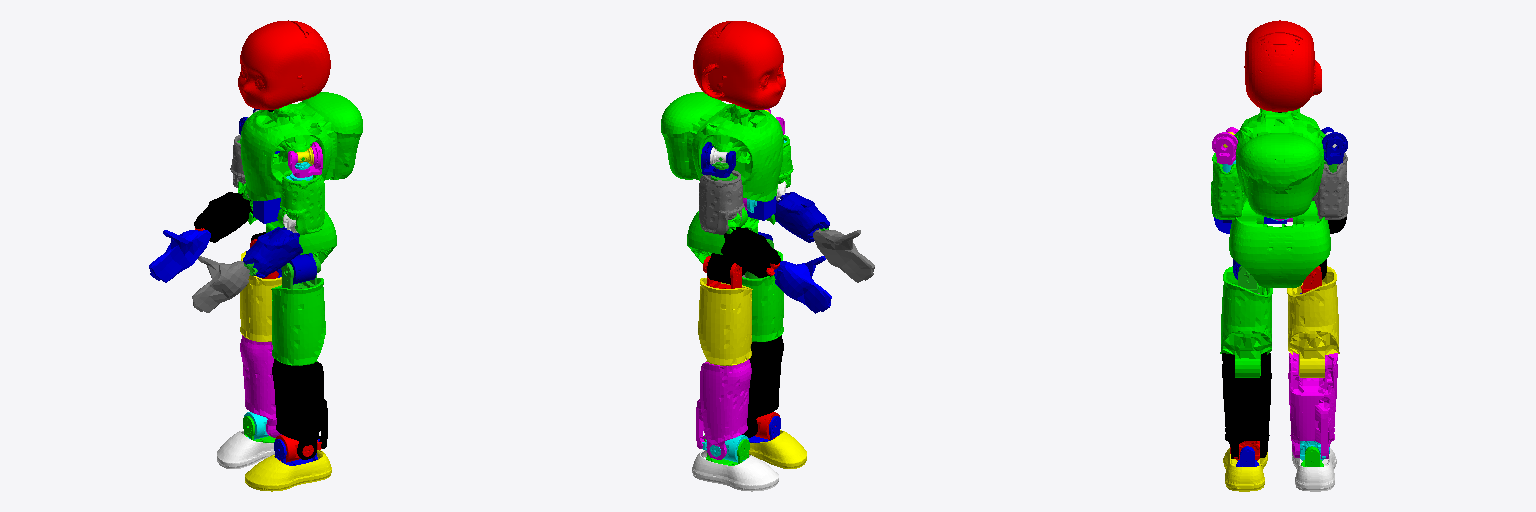
--- Facts derived from the render (not from the file) ---
Views: 3 orthographic renders of the robot side by side, from view 1: azimuth 30°, elevation 25°; view 2: azimuth 150°, elevation 25°; view 3: azimuth 270°, elevation 25°.
Model iCub with 191 links and 190 joints (33 revolute, 157 fixed), rooted at base_link, posed joints at zero except 2 at the middle of their limits (r_elbow = 1.06, l_elbow = 1.06).
Links seen in each view (by area): view 1: chest, head, l_lower_leg, l_upper_leg, r_lower_leg, l_upper_arm, l_foot, r_upper_leg, l_hand, r_hand, l_forearm, r_forearm (+5 smaller); view 2: chest, head, r_lower_leg, r_upper_leg, l_lower_leg, r_upper_arm, r_foot, l_upper_leg, r_hand, r_forearm, l_hand, l_forearm (+4 smaller); view 3: chest, root_link, head, r_upper_leg, l_upper_leg, l_lower_leg, r_lower_leg, r_upper_arm, l_upper_arm, r_foot, l_foot, l_shoulder_2 (+1 smaller).
Link boxes in pixels (x1,y1,x2,y2): chest: (240, 92, 362, 200); head: (238, 20, 330, 109); l_lower_leg: (272, 359, 327, 459); l_upper_leg: (271, 278, 325, 365); r_lower_leg: (240, 335, 281, 437); l_upper_arm: (280, 170, 324, 234); l_foot: (245, 450, 331, 491); r_upper_leg: (240, 251, 281, 341); l_hand: (192, 256, 249, 312); r_hand: (149, 230, 210, 282); l_forearm: (243, 227, 302, 277); r_forearm: (194, 192, 253, 242); chest: (661, 92, 783, 201); head: (693, 21, 785, 109); r_lower_leg: (696, 359, 751, 459); r_upper_leg: (698, 278, 752, 365); l_lower_leg: (742, 335, 783, 437); r_upper_arm: (699, 170, 743, 234); r_foot: (692, 450, 778, 491); l_upper_leg: (742, 250, 783, 341); r_hand: (774, 256, 831, 313); r_forearm: (721, 227, 780, 277); l_hand: (813, 229, 874, 282); l_forearm: (769, 192, 829, 242); chest: (1234, 108, 1325, 218); root_link: (1229, 201, 1330, 287); head: (1244, 20, 1321, 111); r_upper_leg: (1287, 266, 1339, 377); l_upper_leg: (1220, 266, 1272, 377); l_lower_leg: (1222, 352, 1271, 458); r_lower_leg: (1288, 352, 1337, 458); r_upper_arm: (1312, 153, 1348, 219); l_upper_arm: (1211, 153, 1247, 219); r_foot: (1292, 448, 1336, 491); l_foot: (1223, 448, 1267, 491); l_shoulder_2: (1212, 127, 1238, 164).
Bounding box of the posed robot: 0.4797 × 0.2988 × 1.08 m (x, y, z).
38 mesh visuals loaded from 39 distinct referenced files (38 binary STL); not drawn: 1 (reference not matched to a file when rendering).

robot.urdf — iCub:
<robot name="iCub">
  <link name="root_link">
    <inertial>
      <origin xyz="0.0248821 0.000103947 -0.0440806" rpy="1.57079632679 0 -1.57079632679"/>
      <mass value="5.09143"/>
      <inertia ixx="0.0139679" ixy="-5.93488e-06" ixz="-1.55458e-05" iyy="0.0202112" iyz="-0.00170968" izz="0.0249124"/>
    </inertial>
    <visual>
      <origin xyz="-0.0364 0 0.032" rpy="1.57079632679 0 -1.57079632679"/>
      <geometry>
        <mesh filename="package://iCub/meshes/simmechanics/sim_sea_2-5_root_link_prt-binary.stl" scale="0.001 0.001 0.001"/>
      </geometry>
      <material name="green">
        <color rgba="0 1 0 1"/>
      </material>
    </visual>
    <collision>
      <origin xyz="-0.0364 0 0.032" rpy="1.57079632679 0 -1.57079632679"/>
      <geometry>
        <mesh filename="package://iCub/meshes/simmechanics/sim_sea_2-5_root_link_prt-binary.stl" scale="0.001 0.001 0.001"/>
      </geometry>
    </collision>
  </link>
  <link name="r_hip_1">
    <inertial>
      <origin xyz="-0.0005145 -0.0380753 -7.1e-05" rpy="1.57079632679 0 1.57079632679"/>
      <mass value="0.919978"/>
      <inertia ixx="0.000404268" ixy="-1.26852e-06" ixz="1.11055e-06" iyy="0.000574741" iyz="-7.69474e-07" izz="0.000580025"/>
    </inertial>
    <visual>
      <origin xyz="0.0428515000001 0.026 0.151913" rpy="1.57079632679 0 1.57079632679"/>
      <geometry>
        <mesh filename="package://iCub/meshes/simmechanics/sim_sea_2-5_r_hip_1_prt-binary.stl" scale="0.001 0.001 0.001"/>
      </geometry>
      <material name="black">
        <color rgba="0 0 0 1"/>
      </material>
    </visual>
    <collision>
      <origin xyz="0.0428515000001 0.026 0.151913" rpy="1.57079632679 0 1.57079632679"/>
      <geometry>
        <mesh filename="package://iCub/meshes/simmechanics/sim_sea_2-5_r_hip_1_prt-binary.stl" scale="0.001 0.001 0.001"/>
      </geometry>
    </collision>
  </link>
  <joint name="r_hip_pitch" type="revolute">
    <origin xyz="0.0064515 0.026 -0.119913" rpy="0 0 -3.14159265359"/>
    <axis xyz="-2.22044604925e-16 -1.0 0.0"/>
    <parent link="root_link"/>
    <child link="r_hip_1"/>
    <limit effort="55.5" lower="-0.785398163397" upper="2.33874119767" velocity="5.1"/>
    <dynamics damping="1.0" friction="0.0"/>
  </joint>
  <link name="r_hip_2">
    <inertial>
      <origin xyz="-0.0013754 3.49999999998e-06 -0.044282" rpy="1.57079632679 0 1.57079632679"/>
      <mass value="0.418361"/>
      <inertia ixx="0.000487866" ixy="-2.70231e-07" ixz="1.85338e-07" iyy="0.000286099" iyz="1.22793e-05" izz="0.000315174"/>
    </inertial>
    <visual>
      <origin xyz="0.0428514998094 0.0701 0.151913" rpy="1.57079632679 0 1.57079632679"/>
      <geometry>
        <mesh filename="package://iCub/meshes/simmechanics/sim_sea_2-5_r_hip_2_prt-binary.stl" scale="0.001 0.001 0.001"/>
      </geometry>
      <material name="red">
        <color rgba="1 0 0 1"/>
      </material>
    </visual>
    <collision>
      <origin xyz="0.0428514998094 0.0701 0.151913" rpy="1.57079632679 0 1.57079632679"/>
      <geometry>
        <mesh filename="package://iCub/meshes/simmechanics/sim_sea_2-5_r_hip_2_prt-binary.stl" scale="0.001 0.001 0.001"/>
      </geometry>
    </collision>
  </link>
  <joint name="r_hip_roll" type="revolute">
    <origin xyz="0 -0.0441 0" rpy="0 0 0"/>
    <axis xyz="-1.0 0.0 -2.22044604925e-16"/>
    <parent link="r_hip_1"/>
    <child link="r_hip_2"/>
    <limit effort="37.0" lower="-0.349065850399" upper="2.09439510239" velocity="7.64"/>
    <dynamics damping="1.0" friction="0.0"/>
  </joint>
  <link name="r_hip_3">
    <inertial>
      <origin xyz="-0.000123 -0.0002823 0.008718" rpy="-1.57079632679 0 -1.57079632679"/>
      <mass value="0.126212"/>
      <inertia ixx="0.01" ixy="2.67901e-07" ixz="-4.41463e-09" iyy="0.01" iyz="3.32338e-08" izz="0.01"/>
    </inertial>
    <visual>
      <origin xyz="0.0437089998094 -0.0701 -0.226213" rpy="-1.57079632679 0 -1.57079632679"/>
      <geometry>
        <mesh filename="package://iCub/meshes/simmechanics/sim_sea_2-5_r_upper_thigh_prt-binary.stl" scale="0.001 0.001 0.001"/>
      </geometry>
      <material name="blue">
        <color rgba="0 0 1 1"/>
      </material>
    </visual>
    <collision>
      <origin xyz="0.0437089998094 -0.0701 -0.226213" rpy="-1.57079632679 0 -1.57079632679"/>
      <geometry>
        <mesh filename="package://iCub/meshes/simmechanics/sim_sea_2-5_r_upper_thigh_prt-binary.stl" scale="0.001 0.001 0.001"/>
      </geometry>
    </collision>
  </link>
  <joint name="r_leg_ft_sensor" type="fixed">
    <origin xyz="-0.0008575 0 -0.0743" rpy="3.14159265359 0 0"/>
    <parent link="r_hip_2"/>
    <child link="r_hip_3"/>
    <dynamics damping="0.1"/>
  </joint>
  <link name="r_upper_leg">
    <inertial>
      <origin xyz="0.0033999 -2.91e-05 -0.078954" rpy="1.57079632679 0 1.57079632679"/>
      <mass value="1.8035"/>
      <inertia ixx="0.00647751422999" ixy="0.000129579429588" ixz="5.48205094739e-06" iyy="0.0014593786411" iyz="-0.000136613086875" izz="0.00646720823813"/>
    </inertial>
    <visual>
      <origin xyz="0.0437089998094 0.0701 0.240813" rpy="1.57079632679 0 1.57079632679"/>
      <geometry>
        <mesh filename="package://iCub/meshes/simmechanics/sim_sea_2-5_r_thigh_prt-binary.stl" scale="0.001 0.001 0.001"/>
      </geometry>
      <material name="yellow">
        <color rgba="1 1 0 1"/>
      </material>
    </visual>
    <collision>
      <origin xyz="0.0437089998094 0.0701 0.240813" rpy="1.57079632679 0 1.57079632679"/>
      <geometry>
        <mesh filename="package://iCub/meshes/simmechanics/sim_sea_2-5_r_thigh_prt-binary.stl" scale="0.001 0.001 0.001"/>
      </geometry>
    </collision>
  </link>
  <joint name="r_hip_yaw" type="revolute">
    <origin xyz="0 0 0.0144" rpy="-3.14159265359 0 0"/>
    <axis xyz="0.0 -2.22044604925e-16 -1.0"/>
    <parent link="r_hip_3"/>
    <child link="r_upper_leg"/>
    <limit effort="37.0" lower="-1.3962634016" upper="1.3962634016" velocity="7.64"/>
    <dynamics damping="1.0" friction="0.0"/>
  </joint>
  <link name="r_upper_leg_back_contact"/>
  <joint name="r_upper_leg_back_contact_fixed_joint" type="fixed">
    <origin xyz="-0.0511999 0 0.0146" rpy="0 1.57079632679 0"/>
    <parent link="r_upper_leg"/>
    <child link="r_upper_leg_back_contact"/>
    <dynamics damping="0.1"/>
  </joint>
  <link name="r_upper_leg_dh_frame"/>
  <joint name="r_upper_leg_dh_frame_fixed_joint" type="fixed">
    <origin xyz="0 0 -0.145825" rpy="1.57079632679 0 0"/>
    <parent link="r_upper_leg"/>
    <child link="r_upper_leg_dh_frame"/>
    <dynamics damping="0.1"/>
  </joint>
  <link name="r_lower_leg">
    <inertial>
      <origin xyz="0.0012363 -0.0035131 -0.088794" rpy="1.57079632679 0 1.57079632679"/>
      <mass value="1.472"/>
      <inertia ixx="0.00423993167478" ixy="0.000228814548854" ixz="-5.55646459453e-05" iyy="0.00152095043447" iyz="-0.000264132979243" izz="0.00457358584206"/>
    </inertial>
    <visual>
      <origin xyz="0.0437089998094 0.0701000001907 0.386638" rpy="1.57079632679 0 1.57079632679"/>
      <geometry>
        <mesh filename="package://iCub/meshes/simmechanics/sim_sea_2-5_r_shank_prt-binary.stl" scale="0.001 0.001 0.001"/>
      </geometry>
      <material name="pink">
        <color rgba="1 0 1 1"/>
      </material>
    </visual>
    <collision>
      <origin xyz="0.0437089998094 0.0701000001907 0.386638" rpy="1.57079632679 0 1.57079632679"/>
      <geometry>
        <mesh filename="package://iCub/meshes/simmechanics/sim_sea_2-5_r_shank_prt-binary.stl" scale="0.001 0.001 0.001"/>
      </geometry>
    </collision>
  </link>
  <joint name="r_knee" type="revolute">
    <origin xyz="0 0 -0.145825" rpy="0 0 0"/>
    <axis xyz="-2.22044604925e-16 -1.0 0.0"/>
    <parent link="r_upper_leg"/>
    <child link="r_lower_leg"/>
    <limit effort="37.0" lower="-2.16420827247" upper="0.0698131700798" velocity="7.64"/>
    <dynamics damping="1.0" friction="0.0"/>
  </joint>
  <link name="r_lower_leg_skin_0"/>
  <joint name="r_lower_leg_skin_0_fixed_joint" type="fixed">
    <origin xyz="0.0544117 -0.031214 -0.002634" rpy="2.09173809157e-06 -1.41530676247 2.48648458622"/>
    <parent link="r_lower_leg"/>
    <child link="r_lower_leg_skin_0"/>
    <dynamics damping="0.1"/>
  </joint>
  <link name="r_lower_leg_skin_3"/>
  <joint name="r_lower_leg_skin_3_fixed_joint" type="fixed">
    <origin xyz="0.05157878 0.0304205 -0.002843" rpy="0 -1.42951054083 -2.30391484186"/>
    <parent link="r_lower_leg"/>
    <child link="r_lower_leg_skin_3"/>
    <dynamics damping="0.1"/>
  </joint>
  <link name="r_lower_leg_skin_4"/>
  <joint name="r_lower_leg_skin_4_fixed_joint" type="fixed">
    <origin xyz="0.0583103 0.0167836 0.007272" rpy="-2.98636361519e-07 -1.25636748876 -2.75892380087"/>
    <parent link="r_lower_leg"/>
    <child link="r_lower_leg_skin_4"/>
    <dynamics damping="0.1"/>
  </joint>
  <link name="r_lower_leg_skin_5"/>
  <joint name="r_lower_leg_skin_5_fixed_joint" type="fixed">
    <origin xyz="0.0636503 0.0003094 -0.001972" rpy="0 -1.38652215068 -3.14147169807"/>
    <parent link="r_lower_leg"/>
    <child link="r_lower_leg_skin_5"/>
    <dynamics damping="0.1"/>
  </joint>
  <link name="r_lower_leg_skin_6"/>
  <joint name="r_lower_leg_skin_6_fixed_joint" type="fixed">
    <origin xyz="0.05208552 0.0304434 -0.022149" rpy="-3.14158927953 -1.46785123411 0.837492889077"/>
    <parent link="r_lower_leg"/>
    <child link="r_lower_leg_skin_6"/>
    <dynamics damping="0.1"/>
  </joint>
  <link name="r_lower_leg_skin_9"/>
  <joint name="r_lower_leg_skin_9_fixed_joint" type="fixed">
    <origin xyz="0.0598214 0.0167973 -0.030962" rpy="-3.14159202356 -1.34224755325 0.379294477718"/>
    <parent link="r_lower_leg"/>
    <child link="r_lower_leg_skin_9"/>
    <dynamics damping="0.1"/>
  </joint>
  <link name="r_lower_leg_skin_10"/>
  <joint name="r_lower_leg_skin_10_fixed_joint" type="fixed">
    <origin xyz="0.0644607 0.0003424 -0.021205" rpy="3.14159265355 -1.47095803541 0.000430021675261"/>
    <parent link="r_lower_leg"/>
    <child link="r_lower_leg_skin_10"/>
    <dynamics damping="0.1"/>
  </joint>
  <link name="r_lower_leg_skin_11"/>
  <joint name="r_lower_leg_skin_11_fixed_joint" type="fixed">
    <origin xyz="0.0607108 -0.0160916 -0.030885" rpy="-3.14159218252 -1.3281180406 -0.27213836788"/>
    <parent link="r_lower_leg"/>
    <child link="r_lower_leg_skin_11"/>
    <dynamics damping="0.1"/>
  </joint>
  <link name="r_lower_leg_skin_14"/>
  <joint name="r_lower_leg_skin_14_fixed_joint" type="fixed">
    <origin xyz="0.0550477 -0.031176 -0.0219" rpy="-3.14159181885 -1.46502735635 -0.654033407167"/>
    <parent link="r_lower_leg"/>
    <child link="r_lower_leg_skin_14"/>
    <dynamics damping="0.1"/>
  </joint>
  <link name="r_lower_leg_skin_15"/>
  <joint name="r_lower_leg_skin_15_fixed_joint" type="fixed">
    <origin xyz="0.0591708 -0.0161788 0.007243" rpy="4.27484256729e-07 -1.25203633076 2.86798859471"/>
    <parent link="r_lower_leg"/>
    <child link="r_lower_leg_skin_15"/>
    <dynamics damping="0.1"/>
  </joint>
  <link name="r_lower_leg_skin_16"/>
  <joint name="r_lower_leg_skin_16_fixed_joint" type="fixed">
    <origin xyz="0.0272875 -0.050287 -0.004549" rpy="1.33075915123e-05 -1.53260853515 1.96280242835"/>
    <parent link="r_lower_leg"/>
    <child link="r_lower_leg_skin_16"/>
    <dynamics damping="0.1"/>
  </joint>
  <link name="r_lower_leg_skin_17"/>
  <joint name="r_lower_leg_skin_17_fixed_joint" type="fixed">
    <origin xyz="0.027875 -0.050312 -0.023882" rpy="-3.1415645262 -1.56366240237 -1.18022508756"/>
    <parent link="r_lower_leg"/>
    <child link="r_lower_leg_skin_17"/>
    <dynamics damping="0.1"/>
  </joint>
  <link name="r_lower_leg_skin_19"/>
  <joint name="r_lower_leg_skin_19_fixed_joint" type="fixed">
    <origin xyz="0.0357534 0.0410628 0.006065" rpy="-8.90877717426e-07 -1.43498696978 -2.15863618017"/>
    <parent link="r_lower_leg"/>
    <child link="r_lower_leg_skin_19"/>
    <dynamics damping="0.1"/>
  </joint>
  <link name="r_lower_leg_skin_20"/>
  <joint name="r_lower_leg_skin_20_fixed_joint" type="fixed">
    <origin xyz="0.0234419 0.0479908 -0.004952" rpy="-3.20556549428e-06 -1.50015513031 -1.86755092413"/>
    <parent link="r_lower_leg"/>
    <child link="r_lower_leg_skin_20"/>
    <dynamics damping="0.1"/>
  </joint>
  <link name="r_lower_leg_skin_21"/>
  <joint name="r_lower_leg_skin_21_fixed_joint" type="fixed">
    <origin xyz="0.0242704 0.0485378 -0.024277" rpy="2.29671149558e-05 -1.55545513881 -1.87411972316"/>
    <parent link="r_lower_leg"/>
    <child link="r_lower_leg_skin_21"/>
    <dynamics damping="0.1"/>
  </joint>
  <link name="r_lower_leg_skin_28"/>
  <joint name="r_lower_leg_skin_28_fixed_joint" type="fixed">
    <origin xyz="0.04087215 -0.04244 -0.032756" rpy="3.14158088865 -1.52252462169 -0.929681029763"/>
    <parent link="r_lower_leg"/>
    <child link="r_lower_leg_skin_28"/>
    <dynamics damping="0.1"/>
  </joint>
  <link name="r_lower_leg_skin_29"/>
  <joint name="r_lower_leg_skin_29_fixed_joint" type="fixed">
    <origin xyz="0.03846637 -0.043516 -0.05242" rpy="3.14158017044 -1.53429841563 -0.915436346631"/>
    <parent link="r_lower_leg"/>
    <child link="r_lower_leg_skin_29"/>
    <dynamics damping="0.1"/>
  </joint>
  <link name="r_lower_leg_skin_31"/>
  <joint name="r_lower_leg_skin_31_fixed_joint" type="fixed">
    <origin xyz="0.03914638 -0.042271 0.006327" rpy="-6.58381747139e-07 -1.4186494462 2.20853032986"/>
    <parent link="r_lower_leg"/>
    <child link="r_lower_leg_skin_31"/>
    <dynamics damping="0.1"/>
  </joint>
  <link name="r_lower_leg_skin_32"/>
  <joint name="r_lower_leg_skin_32_fixed_joint" type="fixed">
    <origin xyz="0.04598301 0.0325847 -0.080733" rpy="-3.14159014988 -1.52238289798 0.645940380887"/>
    <parent link="r_lower_leg"/>
    <child link="r_lower_leg_skin_32"/>
    <dynamics damping="0.1"/>
  </joint>
  <link name="r_lower_leg_skin_35"/>
  <joint name="r_lower_leg_skin_35_fixed_joint" type="fixed">
    <origin xyz="0.04774866 -0.031232 -0.080113" rpy="-3.14158668275 -1.51758467332 -0.541532486468"/>
    <parent link="r_lower_leg"/>
    <child link="r_lower_leg_skin_35"/>
    <dynamics damping="0.1"/>
  </joint>
  <link name="r_lower_leg_skin_36"/>
  <joint name="r_lower_leg_skin_36_fixed_joint" type="fixed">
    <origin xyz="0.05322409 -0.0156018 -0.088362" rpy="-3.14159034144 -1.51587265281 -0.20740733566"/>
    <parent link="r_lower_leg"/>
    <child link="r_lower_leg_skin_36"/>
    <dynamics damping="0.1"/>
  </joint>
  <link name="r_lower_leg_skin_37"/>
  <joint name="r_lower_leg_skin_37_fixed_joint" type="fixed">
    <origin xyz="0.0552572 0.0009644 -0.078318" rpy="-3.14158180452 -1.52318336898 0.00752450583063"/>
    <parent link="r_lower_leg"/>
    <child link="r_lower_leg_skin_37"/>
    <dynamics damping="0.1"/>
  </joint>
  <link name="r_lower_leg_skin_38"/>
  <joint name="r_lower_leg_skin_38_fixed_joint" type="fixed">
    <origin xyz="0.04880467 -0.031263 -0.060757" rpy="3.14158665199 -1.5157299554 -0.54215359959"/>
    <parent link="r_lower_leg"/>
    <child link="r_lower_leg_skin_38"/>
    <dynamics damping="0.1"/>
  </joint>
  <link name="r_lower_leg_skin_41"/>
  <joint name="r_lower_leg_skin_41_fixed_joint" type="fixed">
    <origin xyz="0.0566009 -0.0159129 -0.049854" rpy="-3.14159198825 -1.40681343597 -0.248233089413"/>
    <parent link="r_lower_leg"/>
    <child link="r_lower_leg_skin_41"/>
    <dynamics damping="0.1"/>
  </joint>
  <link name="r_lower_leg_skin_42"/>
  <joint name="r_lower_leg_skin_42_fixed_joint" type="fixed">
    <origin xyz="0.0570106 0.0007962 -0.05908" rpy="3.14158970239 -1.43524750416 0.00687943651504"/>
    <parent link="r_lower_leg"/>
    <child link="r_lower_leg_skin_42"/>
    <dynamics damping="0.1"/>
  </joint>
  <link name="r_lower_leg_skin_43"/>
  <joint name="r_lower_leg_skin_43_fixed_joint" type="fixed">
    <origin xyz="0.04712542 0.0323653 -0.061362" rpy="-3.14159136621 -1.53843038237 0.624217523667"/>
    <parent link="r_lower_leg"/>
    <child link="r_lower_leg_skin_43"/>
    <dynamics damping="0.1"/>
  </joint>
  <link name="r_lower_leg_skin_46"/>
  <joint name="r_lower_leg_skin_46_fixed_joint" type="fixed">
    <origin xyz="0.0558156 0.0172164 -0.05018" rpy="-3.14158987809 -1.42759881603 0.325607710876"/>
    <parent link="r_lower_leg"/>
    <child link="r_lower_leg_skin_46"/>
    <dynamics damping="0.1"/>
  </joint>
  <link name="r_lower_leg_skin_47"/>
  <joint name="r_lower_leg_skin_47_fixed_joint" type="fixed">
    <origin xyz="0.05264163 0.0176389 -0.08886" rpy="3.14158963519 -1.51690559406 0.262640425058"/>
    <parent link="r_lower_leg"/>
    <child link="r_lower_leg_skin_47"/>
    <dynamics damping="0.1"/>
  </joint>
  <link name="r_lower_leg_skin_49"/>
  <joint name="r_lower_leg_skin_49_fixed_joint" type="fixed">
    <origin xyz="0.04113137 0.0324385 -0.138859" rpy="-3.14158934751 -1.48996135695 0.729763592113"/>
    <parent link="r_lower_leg"/>
    <child link="r_lower_leg_skin_49"/>
    <dynamics damping="0.1"/>
  </joint>
  <link name="r_lower_leg_skin_50"/>
  <joint name="r_lower_leg_skin_50_fixed_joint" type="fixed">
    <origin xyz="0.043016947 0.0325273 -0.119469" rpy="3.14159069596 -1.49900732636 0.695784020081"/>
    <parent link="r_lower_leg"/>
    <child link="r_lower_leg_skin_50"/>
    <dynamics damping="0.1"/>
  </joint>
  <link name="r_lower_leg_skin_51"/>
  <joint name="r_lower_leg_skin_51_fixed_joint" type="fixed">
    <origin xyz="0.05141583 0.017759 -0.108206" rpy="-3.14158890179 -1.50628475717 0.272079935713"/>
    <parent link="r_lower_leg"/>
    <child link="r_lower_leg_skin_51"/>
    <dynamics damping="0.1"/>
  </joint>
  <link name="r_lower_leg_skin_52"/>
  <joint name="r_lower_leg_skin_52_fixed_joint" type="fixed">
    <origin xyz="0.05299832 0.0012664 -0.116895" rpy="-3.14159164042 -1.50318674421 0.0108717260994"/>
    <parent link="r_lower_leg"/>
    <child link="r_lower_leg_skin_52"/>
    <dynamics damping="0.1"/>
  </joint>
  <link name="r_lower_leg_skin_53"/>
  <joint name="r_lower_leg_skin_53_fixed_joint" type="fixed">
    <origin xyz="0.05207312 -0.0154339 -0.107654" rpy="3.14159063987 -1.50595307447 -0.211407322892"/>
    <parent link="r_lower_leg"/>
    <child link="r_lower_leg_skin_53"/>
    <dynamics damping="0.1"/>
  </joint>
  <link name="r_lower_leg_skin_54"/>
  <joint name="r_lower_leg_skin_54_fixed_joint" type="fixed">
    <origin xyz="0.04512708 -0.030749 -0.118787" rpy="3.14158825193 -1.49745145571 -0.575115374473"/>
    <parent link="r_lower_leg"/>
    <child link="r_lower_leg_skin_54"/>
    <dynamics damping="0.1"/>
  </joint>
  <link name="r_lower_leg_skin_55"/>
  <joint name="r_lower_leg_skin_55_fixed_joint" type="fixed">
    <origin xyz="0.043502663 -0.030489 -0.138143" rpy="3.14158906486 -1.48995787038 -0.597219943789"/>
    <parent link="r_lower_leg"/>
    <child link="r_lower_leg_skin_55"/>
    <dynamics damping="0.1"/>
  </joint>
  <link name="r_lower_leg_skin_56"/>
  <joint name="r_lower_leg_skin_56_fixed_joint" type="fixed">
    <origin xyz="0.04926839 -0.015121 -0.146218" rpy="-3.14158920404 -1.49124819828 -0.2234844764"/>
    <parent link="r_lower_leg"/>
    <child link="r_lower_leg_skin_56"/>
    <dynamics damping="0.1"/>
  </joint>
  <link name="r_lower_leg_skin_60"/>
  <joint name="r_lower_leg_skin_60_fixed_joint" type="fixed">
    <origin xyz="0.04836967 0.018056 -0.146938" rpy="-3.14159173337 -1.48985968527 0.302951871954"/>
    <parent link="r_lower_leg"/>
    <child link="r_lower_leg_skin_60"/>
    <dynamics damping="0.1"/>
  </joint>
  <link name="r_lower_leg_skin_61"/>
  <joint name="r_lower_leg_skin_61_fixed_joint" type="fixed">
    <origin xyz="0.05161952 0.0014266 -0.136169" rpy="-3.14159100925 -1.49602097086 0.0132014275205"/>
    <parent link="r_lower_leg"/>
    <child link="r_lower_leg_skin_61"/>
    <dynamics damping="0.1"/>
  </joint>
  <link name="r_ankle_1">
    <inertial>
      <origin xyz="0.0151436 -0.0008686 4.2e-05" rpy="1.57079632679 0 1.57079632679"/>
      <mass value="0.6803"/>
      <inertia ixx="0.000404618848932" ixy="7.49819286945e-07" ixz="-3.01349467691e-05" iyy="0.000448633654664" iyz="2.5726697409e-06" izz="0.000308235939139"/>
    </inertial>
    <visual>
      <origin xyz="0.0437089998094 0.0701000001907 0.587138" rpy="1.57079632679 0 1.57079632679"/>
      <geometry>
        <mesh filename="package://iCub/meshes/simmechanics/sim_sea_2-5_r_ankle_prt-binary.stl" scale="0.001 0.001 0.001"/>
      </geometry>
      <material name="cyan">
        <color rgba="0 1 1 1"/>
      </material>
    </visual>
    <collision>
      <origin xyz="0.0437089998094 0.0701000001907 0.587138" rpy="1.57079632679 0 1.57079632679"/>
      <geometry>
        <mesh filename="package://iCub/meshes/simmechanics/sim_sea_2-5_r_ankle_prt-binary.stl" scale="0.001 0.001 0.001"/>
      </geometry>
    </collision>
  </link>
  <joint name="r_ankle_pitch" type="revolute">
    <origin xyz="0 0 -0.2005" rpy="0 0 0"/>
    <axis xyz="2.22044604925e-16 1.0 0.0"/>
    <parent link="r_lower_leg"/>
    <child link="r_ankle_1"/>
    <limit effort="37.0" lower="-0.610865238198" upper="0.610865238198" velocity="7.64"/>
    <dynamics damping="1.0" friction="0.0"/>
  </joint>
  <link name="r_ankle_2">
    <inertial>
      <origin xyz="0.0007673 -8.20000000001e-06 -0.038202" rpy="1.57079632679 0 1.57079632679"/>
      <mass value="0.267485"/>
      <inertia ixx="0.01" ixy="-7.53335e-08" ixz="2.93681e-08" iyy="0.01" iyz="-4.26218e-07" izz="0.01"/>
    </inertial>
    <visual>
      <origin xyz="0.0437089996186 0.0701000001907 0.587138" rpy="1.57079632679 0 1.57079632679"/>
      <geometry>
        <mesh filename="package://iCub/meshes/simmechanics/sim_sea_2-5_r_foot_prt-binary.stl" scale="0.001 0.001 0.001"/>
      </geometry>
      <material name="green">
        <color rgba="0 1 0 1"/>
      </material>
    </visual>
    <collision>
      <origin xyz="0.0437089996186 0.0701000001907 0.587138" rpy="1.57079632679 0 1.57079632679"/>
      <geometry>
        <mesh filename="package://iCub/meshes/simmechanics/sim_sea_2-5_r_foot_prt-binary.stl" scale="0.001 0.001 0.001"/>
      </geometry>
    </collision>
  </link>
  <joint name="r_ankle_roll" type="revolute">
    <origin xyz="0 0 0" rpy="0 0 0"/>
    <axis xyz="-1.0 0.0 -2.22044604925e-16"/>
    <parent link="r_ankle_1"/>
    <child link="r_ankle_2"/>
    <limit effort="37.0" lower="-0.436332312999" upper="0.436332312999" velocity="7.64"/>
    <dynamics damping="1.0" friction="0.0"/>
  </joint>
  <link name="r_foot">
    <inertial>
      <origin xyz="0.0336001 0.0053719 -0.001147" rpy="-1.57079632679 0 -1.57079632679"/>
      <mass value="0.382866"/>
      <inertia ixx="0.00120946" ixy="3.74585e-07" ixz="-5.78759e-05" iyy="0.00141439" iyz="-7.80325e-06" izz="0.000273599"/>
    </inertial>
    <visual>
      <origin xyz="0.0472089996187 -0.0701000001907 -0.647438000286" rpy="-1.57079632679 0 -1.57079632679"/>
      <geometry>
        <mesh filename="package://iCub/meshes/simmechanics/sim_sea_2-5_r_sole_prt-binary.stl" scale="0.001 0.001 0.001"/>
      </geometry>
      <material name="white">
        <color rgba="1 1 1 1"/>
      </material>
    </visual>
    <collision>
      <origin xyz="0.03 0.005 0.014" rpy="0.0 0.0 0.0"/>
      <geometry>
        <box size="0.16 0.072 0.001"/>
      </geometry>
    </collision>
  </link>
  <joint name="r_foot_ft_sensor" type="fixed">
    <origin xyz="-0.0035 0 -0.0605" rpy="3.14159265359 0 0"/>
    <parent link="r_ankle_2"/>
    <child link="r_foot"/>
    <dynamics damping="0.1"/>
  </joint>
  <link name="r_sole"/>
  <joint name="r_sole_fixed_joint" type="fixed">
    <origin xyz="0.0035 0 0.004" rpy="-3.14159265359 0 0"/>
    <parent link="r_foot"/>
    <child link="r_sole"/>
    <dynamics damping="0.1"/>
  </joint>
  <link name="r_sole_skin_0"/>
  <joint name="r_sole_skin_0_fixed_joint" type="fixed">
    <origin xyz="0.0604767 -0.0254106 0.0075" rpy="0 0 0"/>
    <parent link="r_foot"/>
    <child link="r_sole_skin_0"/>
    <dynamics damping="0.1"/>
  </joint>
  <link name="r_sole_skin_1"/>
  <joint name="r_sole_skin_1_fixed_joint" type="fixed">
    <origin xyz="0.0788511 -0.0194404 0.0075" rpy="0 0 0"/>
    <parent link="r_foot"/>
    <child link="r_sole_skin_1"/>
    <dynamics damping="0.1"/>
  </joint>
  <link name="r_sole_skin_2"/>
  <joint name="r_sole_skin_2_fixed_joint" type="fixed">
    <origin xyz="0.0932087 -0.032368 0.0075" rpy="0 0 0"/>
    <parent link="r_foot"/>
    <child link="r_sole_skin_2"/>
    <dynamics damping="0.1"/>
  </joint>
  <link name="r_sole_skin_3"/>
  <joint name="r_sole_skin_3_fixed_joint" type="fixed">
    <origin xyz="0.1115831 -0.0263978 0.0075" rpy="0 0 0"/>
    <parent link="r_foot"/>
    <child link="r_sole_skin_3"/>
    <dynamics damping="0.1"/>
  </joint>
  <link name="r_sole_skin_4"/>
  <joint name="r_sole_skin_4_fixed_joint" type="fixed">
    <origin xyz="0.1156 -0.0075 0.0075" rpy="0 0 0"/>
    <parent link="r_foot"/>
    <child link="r_sole_skin_4"/>
    <dynamics damping="0.1"/>
  </joint>
  <link name="r_sole_skin_8"/>
  <joint name="r_sole_skin_8_fixed_joint" type="fixed">
    <origin xyz="0.1052593 0.0243254 0.0075" rpy="0 0 0"/>
    <parent link="r_foot"/>
    <child link="r_sole_skin_8"/>
    <dynamics damping="0.1"/>
  </joint>
  <link name="r_sole_skin_9"/>
  <joint name="r_sole_skin_9_fixed_joint" type="fixed">
    <origin xyz="0.0909017 0.037253 0.0075" rpy="0 0 0"/>
    <parent link="r_foot"/>
    <child link="r_sole_skin_9"/>
    <dynamics damping="0.1"/>
  </joint>
  <link name="r_sole_skin_10"/>
  <joint name="r_sole_skin_10_fixed_joint" type="fixed">
    <origin xyz="0.0725273 0.031283 0.0075" rpy="0 0 0"/>
    <parent link="r_foot"/>
    <child link="r_sole_skin_10"/>
    <dynamics damping="0.1"/>
  </joint>
  <link name="r_sole_skin_11"/>
  <joint name="r_sole_skin_11_fixed_joint" type="fixed">
    <origin xyz="0.0685104 0.012385 0.0075" rpy="0 0 0"/>
    <parent link="r_foot"/>
    <child link="r_sole_skin_11"/>
    <dynamics damping="0.1"/>
  </joint>
  <link name="r_sole_skin_12"/>
  <joint name="r_sole_skin_12_fixed_joint" type="fixed">
    <origin xyz="0.082868 -0.0005426 0.0075" rpy="0 0 0"/>
    <parent link="r_foot"/>
    <child link="r_sole_skin_12"/>
    <dynamics damping="0.1"/>
  </joint>
  <link name="r_sole_skin_13"/>
  <joint name="r_sole_skin_13_fixed_joint" type="fixed">
    <origin xyz="0.1012424 0.0054276 0.0075" rpy="0 0 0"/>
    <parent link="r_foot"/>
    <child link="r_sole_skin_13"/>
    <dynamics damping="0.1"/>
  </joint>
  <link name="r_sole_skin_14"/>
  <joint name="r_sole_skin_14_fixed_joint" type="fixed">
    <origin xyz="0.05013603 0.0064148 0.0075" rpy="0 0 0"/>
    <parent link="r_foot"/>
    <child link="r_sole_skin_14"/>
    <dynamics damping="0.1"/>
  </joint>
  <link name="r_sole_skin_15"/>
  <joint name="r_sole_skin_15_fixed_joint" type="fixed">
    <origin xyz="0.04611917 -0.012483 0.0075" rpy="0 0 0"/>
    <parent link="r_foot"/>
    <child link="r_sole_skin_15"/>
    <dynamics damping="0.1"/>
  </joint>
  <link name="r_sole_skin_17"/>
  <joint name="r_sole_skin_17_fixed_joint" type="fixed">
    <origin xyz="-0.0296855 0.033257 0.0075" rpy="0 0 0"/>
    <parent link="r_foot"/>
    <child link="r_sole_skin_17"/>
    <dynamics damping="0.1"/>
  </joint>
  <link name="r_sole_skin_18"/>
  <joint name="r_sole_skin_18_fixed_joint" type="fixed">
    <origin xyz="-0.0480599 0.027287 0.0075" rpy="0 0 0"/>
    <parent link="r_foot"/>
    <child link="r_sole_skin_18"/>
    <dynamics damping="0.1"/>
  </joint>
  <link name="r_sole_skin_19"/>
  <joint name="r_sole_skin_19_fixed_joint" type="fixed">
    <origin xyz="-0.0520767 0.0083892 0.0075" rpy="0 0 0"/>
    <parent link="r_foot"/>
    <child link="r_sole_skin_19"/>
    <dynamics damping="0.1"/>
  </joint>
  <link name="r_sole_skin_20"/>
  <joint name="r_sole_skin_20_fixed_joint" type="fixed">
    <origin xyz="-0.0377192 -0.0045384 0.0075" rpy="0 0 0"/>
    <parent link="r_foot"/>
    <child link="r_sole_skin_20"/>
    <dynamics damping="0.1"/>
  </joint>
  <link name="r_sole_skin_21"/>
  <joint name="r_sole_skin_21_fixed_joint" type="fixed">
    <origin xyz="0.0357785 0.0193424 0.0075" rpy="0 0 0"/>
    <parent link="r_foot"/>
    <child link="r_sole_skin_21"/>
    <dynamics damping="0.1"/>
  </joint>
  <link name="r_sole_skin_22"/>
  <joint name="r_sole_skin_22_fixed_joint" type="fixed">
    <origin xyz="0.0277448 -0.0184532 0.0075" rpy="0 0 0"/>
    <parent link="r_foot"/>
    <child link="r_sole_skin_22"/>
    <dynamics damping="0.1"/>
  </joint>
  <link name="r_sole_skin_24"/>
  <joint name="r_sole_skin_24_fixed_joint" type="fixed">
    <origin xyz="-0.0049872 -0.0114958 0.0075" rpy="0 0 0"/>
    <parent link="r_foot"/>
    <child link="r_sole_skin_24"/>
    <dynamics damping="0.1"/>
  </joint>
  <link name="r_sole_skin_25"/>
  <joint name="r_sole_skin_25_fixed_joint" type="fixed">
    <origin xyz="0.0133872 -0.0055256 0.0075" rpy="0 0 0"/>
    <parent link="r_foot"/>
    <child link="r_sole_skin_25"/>
    <dynamics damping="0.1"/>
  </joint>
  <link name="r_sole_skin_26"/>
  <joint name="r_sole_skin_26_fixed_joint" type="fixed">
    <origin xyz="0.0174041 0.0133722 0.0075" rpy="0 0 0"/>
    <parent link="r_foot"/>
    <child link="r_sole_skin_26"/>
    <dynamics damping="0.1"/>
  </joint>
  <link name="r_sole_skin_27"/>
  <joint name="r_sole_skin_27_fixed_joint" type="fixed">
    <origin xyz="0.0030465 0.0262998 0.0075" rpy="0 0 0"/>
    <parent link="r_foot"/>
    <child link="r_sole_skin_27"/>
    <dynamics damping="0.1"/>
  </joint>
  <link name="r_sole_skin_28"/>
  <joint name="r_sole_skin_28_fixed_joint" type="fixed">
    <origin xyz="-0.0153279 0.0203296 0.0075" rpy="0 0 0"/>
    <parent link="r_foot"/>
    <child link="r_sole_skin_28"/>
    <dynamics damping="0.1"/>
  </joint>
  <link name="r_sole_skin_29"/>
  <joint name="r_sole_skin_29_fixed_joint" type="fixed">
    <origin xyz="-0.0193448 0.0014318 0.0075" rpy="0 0 0"/>
    <parent link="r_foot"/>
    <child link="r_sole_skin_29"/>
    <dynamics damping="0.1"/>
  </joint>
  <link name="l_hip_1">
    <inertial>
      <origin xyz="-0.0005108 0.0380923 -8.3e-05" rpy="1.57079632679 0 1.57079632679"/>
      <mass value="0.919725"/>
      <inertia ixx="0.000404539" ixy="1.18502e-06" ixz="-9.64514e-07" iyy="0.000573315" iyz="-1.06028e-06" izz="0.000578982"/>
    </inertial>
    <visual>
      <origin xyz="0.0428515000001 -0.026 0.151913" rpy="1.57079632679 0 1.57079632679"/>
      <geometry>
        <mesh filename="package://iCub/meshes/simmechanics/sim_sea_2-5_l_hip_1_prt-binary.stl" scale="0.001 0.001 0.001"/>
      </geometry>
      <material name="dblue">
        <color rgba="0 0 0.8 1"/>
      </material>
    </visual>
    <collision>
      <origin xyz="0.0428515000001 -0.026 0.151913" rpy="1.57079632679 0 1.57079632679"/>
      <geometry>
        <mesh filename="package://iCub/meshes/simmechanics/sim_sea_2-5_l_hip_1_prt-binary.stl" scale="0.001 0.001 0.001"/>
      </geometry>
    </collision>
  </link>
  <joint name="l_hip_pitch" type="revolute">
    <origin xyz="0.0064515 -0.026 -0.119913" rpy="0 0 -3.14159265359"/>
    <axis xyz="-2.22044604925e-16 -1.0 0.0"/>
    <parent link="root_link"/>
    <child link="l_hip_1"/>
    <limit effort="55.5" lower="-0.785398163397" upper="2.33874119767" velocity="5.1"/>
    <dynamics damping="1.0" friction="0.0"/>
  </joint>
  <link name="l_hip_2">
    <inertial>
      <origin xyz="-0.0015762 -1.94e-05 -0.044053" rpy="1.57079632679 0 1.57079632679"/>
      <mass value="0.421106"/>
      <inertia ixx="0.000494284" ixy="1.5483e-07" ixz="-1.86308e-07" iyy="0.000288736" iyz="1.52962e-05" izz="0.000319008"/>
    </inertial>
    <visual>
      <origin xyz="0.0428514998093 -0.0701 0.151913" rpy="1.57079632679 0 1.57079632679"/>
      <geometry>
        <mesh filename="package://iCub/meshes/simmechanics/sim_sea_2-5_l_hip_2_prt-binary.stl" scale="0.001 0.001 0.001"/>
      </geometry>
      <material name="dgreen">
        <color rgba="0.1 0.8 0.1 1"/>
      </material>
    </visual>
    <collision>
      <origin xyz="0.0428514998093 -0.0701 0.151913" rpy="1.57079632679 0 1.57079632679"/>
      <geometry>
        <mesh filename="package://iCub/meshes/simmechanics/sim_sea_2-5_l_hip_2_prt-binary.stl" scale="0.001 0.001 0.001"/>
      </geometry>
    </collision>
  </link>
  <joint name="l_hip_roll" type="revolute">
    <origin xyz="0 0.0441 0" rpy="0 0 0"/>
    <axis xyz="1.0 0.0 2.22044604925e-16"/>
    <parent link="l_hip_1"/>
    <child link="l_hip_2"/>
    <limit effort="37.0" lower="-0.349065850399" upper="2.09439510239" velocity="7.64"/>
    <dynamics damping="1.0" friction="0.0"/>
  </joint>
  <link name="l_hip_3">
    <inertial>
      <origin xyz="-0.000123 -0.0002823 0.008718" rpy="-1.57079632679 0 -1.57079632679"/>
      <mass value="0.126212"/>
      <inertia ixx="0.01" ixy="2.67901e-07" ixz="-4.41463e-09" iyy="0.01" iyz="3.32338e-08" izz="0.01"/>
    </inertial>
    <visual>
      <origin xyz="0.0437089998093 0.0701 -0.226213" rpy="-1.57079632679 0 -1.57079632679"/>
      <geometry>
        <mesh filename="package://iCub/meshes/simmechanics/sim_sea_2-5_l_upper_thigh_prt-binary.stl" scale="0.001 0.001 0.001"/>
      </geometry>
      <material name="gray">
        <color rgba="0.5 0.5 0.5 1"/>
      </material>
    </visual>
    <collision>
      <origin xyz="0.0437089998093 0.0701 -0.226213" rpy="-1.57079632679 0 -1.57079632679"/>
      <geometry>
        <mesh filename="package://iCub/meshes/simmechanics/sim_sea_2-5_l_upper_thigh_prt-binary.stl" scale="0.001 0.001 0.001"/>
      </geometry>
    </collision>
  </link>
  <joint name="l_leg_ft_sensor" type="fixed">
    <origin xyz="-0.0008575 0 -0.0743" rpy="3.14159265359 0 0"/>
    <parent link="l_hip_2"/>
    <child link="l_hip_3"/>
    <dynamics damping="0.1"/>
  </joint>
  <link name="l_upper_leg">
    <inertial>
      <origin xyz="0.0033868 0.0001018 -0.078916" rpy="1.57079632679 0 1.57079632679"/>
      <mass value="1.8084"/>
      <inertia ixx="0.00648512673084" ixy="-0.00012421121424" ixz="-3.97399421479e-06" iyy="0.00146250529833" iyz="-0.00013681806888" izz="0.00647619242046"/>
    </inertial>
    <visual>
      <origin xyz="0.0437089998093 -0.0701 0.240813" rpy="1.57079632679 0 1.57079632679"/>
      <geometry>
        <mesh filename="package://iCub/meshes/simmechanics/sim_sea_2-5_l_thigh_prt-binary.stl" scale="0.001 0.001 0.001"/>
      </geometry>
      <material name="green">
        <color rgba="0 1 0 1"/>
      </material>
    </visual>
    <collision>
      <origin xyz="0.0437089998093 -0.0701 0.240813" rpy="1.57079632679 0 1.57079632679"/>
      <geometry>
        <mesh filename="package://iCub/meshes/simmechanics/sim_sea_2-5_l_thigh_prt-binary.stl" scale="0.001 0.001 0.001"/>
      </geometry>
    </collision>
  </link>
  <joint name="l_hip_yaw" type="revolute">
    <origin xyz="0 0 0.0144" rpy="-3.14159265359 0 0"/>
    <axis xyz="0.0 2.22044604925e-16 1.0"/>
    <parent link="l_hip_3"/>
    <child link="l_upper_leg"/>
    <limit effort="37.0" lower="-1.3962634016" upper="1.3962634016" velocity="7.64"/>
    <dynamics damping="1.0" friction="0.0"/>
  </joint>
  <link name="l_upper_leg_back_contact"/>
  <joint name="l_upper_leg_back_contact_fixed_joint" type="fixed">
    <origin xyz="-0.0512567 0 0.0146" rpy="0 1.57079632679 0"/>
    <parent link="l_upper_leg"/>
    <child link="l_upper_leg_back_contact"/>
    <dynamics damping="0.1"/>
  </joint>
  <link name="l_upper_leg_dh_frame"/>
  <joint name="l_upper_leg_dh_frame_fixed_joint" type="fixed">
    <origin xyz="0 0 -0.145825" rpy="1.57079632679 0 0"/>
    <parent link="l_upper_leg"/>
    <child link="l_upper_leg_dh_frame"/>
    <dynamics damping="0.1"/>
  </joint>
  <link name="l_lower_leg">
    <inertial>
      <origin xyz="0.0009997 0.0034969 -0.088567" rpy="1.57079632679 0 1.57079632679"/>
      <mass value="1.4724"/>
      <inertia ixx="0.00423698606499" ixy="-0.000239615181423" ixz="6.76166218238e-05" iyy="0.00152221313636" iyz="-0.00023314283575" izz="0.00457007183207"/>
    </inertial>
    <visual>
      <origin xyz="0.0437089998093 -0.0701000001908 0.386638" rpy="1.57079632679 0 1.57079632679"/>
      <geometry>
        <mesh filename="package://iCub/meshes/simmechanics/sim_sea_2-5_l_shank_prt-binary.stl" scale="0.001 0.001 0.001"/>
      </geometry>
      <material name="black">
        <color rgba="0 0 0 1"/>
      </material>
    </visual>
    <collision>
      <origin xyz="0.0437089998093 -0.0701000001908 0.386638" rpy="1.57079632679 0 1.57079632679"/>
      <geometry>
        <mesh filename="package://iCub/meshes/simmechanics/sim_sea_2-5_l_shank_prt-binary.stl" scale="0.001 0.001 0.001"/>
      </geometry>
    </collision>
  </link>
  <joint name="l_knee" type="revolute">
    <origin xyz="0 0 -0.145825" rpy="0 0 0"/>
    <axis xyz="-2.22044604925e-16 -1.0 0.0"/>
    <parent link="l_upper_leg"/>
    <child link="l_lower_leg"/>
    <limit effort="37.0" lower="-2.16420827247" upper="0.0698131700798" velocity="7.64"/>
    <dynamics damping="1.0" friction="0.0"/>
  </joint>
  <link name="l_ankle_1">
    <inertial>
      <origin xyz="0.015153 0.0009021 4.2e-05" rpy="1.57079632679 0 1.57079632679"/>
      <mass value="0.6798"/>
      <inertia ixx="0.000404474297345" ixy="-1.13226038781e-06" ixz="3.04665105776e-05" iyy="0.00044788735407" iyz="2.57265834141e-06" izz="0.000307603045377"/>
    </inertial>
    <visual>
      <origin xyz="0.0437089998093 -0.0701000001908 0.587138" rpy="1.57079632679 0 1.57079632679"/>
      <geometry>
        <mesh filename="package://iCub/meshes/simmechanics/sim_sea_2-5_l_ankle_prt-binary.stl" scale="0.001 0.001 0.001"/>
      </geometry>
      <material name="red">
        <color rgba="1 0 0 1"/>
      </material>
    </visual>
    <collision>
      <origin xyz="0.0437089998093 -0.0701000001908 0.587138" rpy="1.57079632679 0 1.57079632679"/>
      <geometry>
        <mesh filename="package://iCub/meshes/simmechanics/sim_sea_2-5_l_ankle_prt-binary.stl" scale="0.001 0.001 0.001"/>
      </geometry>
    </collision>
  </link>
  <joint name="l_ankle_pitch" type="revolute">
    <origin xyz="0 0 -0.2005" rpy="0 0 0"/>
    <axis xyz="2.22044604925e-16 1.0 0.0"/>
    <parent link="l_lower_leg"/>
    <child link="l_ankle_1"/>
    <limit effort="37.0" lower="-0.610865238198" upper="0.610865238198" velocity="7.64"/>
    <dynamics damping="1.0" friction="0.0"/>
  </joint>
  <link name="l_ankle_2">
    <inertial>
      <origin xyz="0.0007673 -8.2e-06 -0.038202" rpy="1.57079632679 0 1.57079632679"/>
      <mass value="0.267485"/>
      <inertia ixx="0.01" ixy="-7.53335e-08" ixz="2.93681e-08" iyy="0.01" iyz="-4.26218e-07" izz="0.01"/>
    </inertial>
    <visual>
      <origin xyz="0.0437089996186 -0.0701000001908 0.587138" rpy="1.57079632679 0 1.57079632679"/>
      <geometry>
        <mesh filename="package://iCub/meshes/simmechanics/sim_sea_2-5_l_foot_prt-binary.stl" scale="0.001 0.001 0.001"/>
      </geometry>
      <material name="blue">
        <color rgba="0 0 1 1"/>
      </material>
    </visual>
    <collision>
      <origin xyz="0.0437089996186 -0.0701000001908 0.587138" rpy="1.57079632679 0 1.57079632679"/>
      <geometry>
        <mesh filename="package://iCub/meshes/simmechanics/sim_sea_2-5_l_foot_prt-binary.stl" scale="0.001 0.001 0.001"/>
      </geometry>
    </collision>
  </link>
  <joint name="l_ankle_roll" type="revolute">
    <origin xyz="0 0 0" rpy="0 0 0"/>
    <axis xyz="1.0 0.0 2.22044604925e-16"/>
    <parent link="l_ankle_1"/>
    <child link="l_ankle_2"/>
    <limit effort="37.0" lower="-0.436332312999" upper="0.436332312999" velocity="7.64"/>
    <dynamics damping="1.0" friction="0.0"/>
  </joint>
  <link name="l_foot">
    <inertial>
      <origin xyz="0.0336668 -0.0053736 -0.001164" rpy="-1.57079632679 0 -1.57079632679"/>
      <mass value="0.382968"/>
      <inertia ixx="0.00121242" ixy="-3.69533e-07" ixz="5.79273e-05" iyy="0.00141712" iyz="-7.64972e-06" izz="0.000273846"/>
    </inertial>
    <visual>
      <origin xyz="0.0472089996186 0.0701000001908 -0.647438000286" rpy="-1.57079632679 0 -1.57079632679"/>
      <geometry>
        <mesh filename="package://iCub/meshes/simmechanics/sim_sea_2-5_l_sole_prt-binary.stl" scale="0.001 0.001 0.001"/>
      </geometry>
      <material name="yellow">
        <color rgba="1 1 0 1"/>
      </material>
    </visual>
    <collision>
      <origin xyz="0.03 -0.005 0.014" rpy="0.0 0.0 0.0"/>
      <geometry>
        <box size="0.16 0.072 0.001"/>
      </geometry>
    </collision>
  </link>
  <joint name="l_foot_ft_sensor" type="fixed">
    <origin xyz="-0.0035 0 -0.0605" rpy="3.14159265359 0 0"/>
    <parent link="l_ankle_2"/>
    <child link="l_foot"/>
    <dynamics damping="0.1"/>
  </joint>
  <link name="l_sole"/>
  <joint name="l_sole_fixed_joint" type="fixed">
    <origin xyz="0.0035 0 0.004" rpy="-3.14159265359 0 0"/>
    <parent link="l_foot"/>
    <child link="l_sole"/>
    <dynamics damping="0.1"/>
  </joint>
  <link name="l_sole_skin_0"/>
  <joint name="l_sole_skin_0_fixed_joint" type="fixed">
    <origin xyz="0.0932087 0.032368 0.0075" rpy="0 0 0"/>
    <parent link="l_foot"/>
    <child link="l_sole_skin_0"/>
    <dynamics damping="0.1"/>
  </joint>
  <link name="l_sole_skin_1"/>
  <joint name="l_sole_skin_1_fixed_joint" type="fixed">
    <origin xyz="0.0788511 0.0194399 0.0075" rpy="0 0 0"/>
    <parent link="l_foot"/>
    <child link="l_sole_skin_1"/>
    <dynamics damping="0.1"/>
  </joint>
  <link name="l_sole_skin_2"/>
  <joint name="l_sole_skin_2_fixed_joint" type="fixed">
    <origin xyz="0.0604767 0.0254106 0.0075" rpy="0 0 0"/>
    <parent link="l_foot"/>
    <child link="l_sole_skin_2"/>
    <dynamics damping="0.1"/>
  </joint>
  <link name="l_sole_skin_3"/>
  <joint name="l_sole_skin_3_fixed_joint" type="fixed">
    <origin xyz="0.04611917 0.0124825 0.0075" rpy="0 0 0"/>
    <parent link="l_foot"/>
    <child link="l_sole_skin_3"/>
    <dynamics damping="0.1"/>
  </joint>
  <link name="l_sole_skin_4"/>
  <joint name="l_sole_skin_4_fixed_joint" type="fixed">
    <origin xyz="0.05013603 -0.0064148 0.0075" rpy="0 0 0"/>
    <parent link="l_foot"/>
    <child link="l_sole_skin_4"/>
    <dynamics damping="0.1"/>
  </joint>
  <link name="l_sole_skin_8"/>
  <joint name="l_sole_skin_8_fixed_joint" type="fixed">
    <origin xyz="0.0725273 -0.031283 0.0075" rpy="0 0 0"/>
    <parent link="l_foot"/>
    <child link="l_sole_skin_8"/>
    <dynamics damping="0.1"/>
  </joint>
  <link name="l_sole_skin_9"/>
  <joint name="l_sole_skin_9_fixed_joint" type="fixed">
    <origin xyz="0.0909017 -0.037254 0.0075" rpy="0 0 0"/>
    <parent link="l_foot"/>
    <child link="l_sole_skin_9"/>
    <dynamics damping="0.1"/>
  </joint>
  <link name="l_sole_skin_10"/>
  <joint name="l_sole_skin_10_fixed_joint" type="fixed">
    <origin xyz="0.1052593 -0.0243254 0.0075" rpy="0 0 0"/>
    <parent link="l_foot"/>
    <child link="l_sole_skin_10"/>
    <dynamics damping="0.1"/>
  </joint>
  <link name="l_sole_skin_11"/>
  <joint name="l_sole_skin_11_fixed_joint" type="fixed">
    <origin xyz="0.1012424 -0.0054281 0.0075" rpy="0 0 0"/>
    <parent link="l_foot"/>
    <child link="l_sole_skin_11"/>
    <dynamics damping="0.1"/>
  </joint>
  <link name="l_sole_skin_12"/>
  <joint name="l_sole_skin_12_fixed_joint" type="fixed">
    <origin xyz="0.082868 0.0005426 0.0075" rpy="0 0 0"/>
    <parent link="l_foot"/>
    <child link="l_sole_skin_12"/>
    <dynamics damping="0.1"/>
  </joint>
  <link name="l_sole_skin_13"/>
  <joint name="l_sole_skin_13_fixed_joint" type="fixed">
    <origin xyz="0.0685104 -0.0123855 0.0075" rpy="0 0 0"/>
    <parent link="l_foot"/>
    <child link="l_sole_skin_13"/>
    <dynamics damping="0.1"/>
  </joint>
  <link name="l_sole_skin_14"/>
  <joint name="l_sole_skin_14_fixed_joint" type="fixed">
    <origin xyz="0.1156 0.0074995 0.0075" rpy="0 0 0"/>
    <parent link="l_foot"/>
    <child link="l_sole_skin_14"/>
    <dynamics damping="0.1"/>
  </joint>
  <link name="l_sole_skin_15"/>
  <joint name="l_sole_skin_15_fixed_joint" type="fixed">
    <origin xyz="0.1115831 0.0263973 0.0075" rpy="0 0 0"/>
    <parent link="l_foot"/>
    <child link="l_sole_skin_15"/>
    <dynamics damping="0.1"/>
  </joint>
  <link name="l_sole_skin_17"/>
  <joint name="l_sole_skin_17_fixed_joint" type="fixed">
    <origin xyz="-0.0377192 0.0045384 0.0075" rpy="0 0 0"/>
    <parent link="l_foot"/>
    <child link="l_sole_skin_17"/>
    <dynamics damping="0.1"/>
  </joint>
  <link name="l_sole_skin_18"/>
  <joint name="l_sole_skin_18_fixed_joint" type="fixed">
    <origin xyz="-0.0520767 -0.0083897 0.0075" rpy="0 0 0"/>
    <parent link="l_foot"/>
    <child link="l_sole_skin_18"/>
    <dynamics damping="0.1"/>
  </joint>
  <link name="l_sole_skin_19"/>
  <joint name="l_sole_skin_19_fixed_joint" type="fixed">
    <origin xyz="-0.0480599 -0.027287 0.0075" rpy="0 0 0"/>
    <parent link="l_foot"/>
    <child link="l_sole_skin_19"/>
    <dynamics damping="0.1"/>
  </joint>
  <link name="l_sole_skin_20"/>
  <joint name="l_sole_skin_20_fixed_joint" type="fixed">
    <origin xyz="-0.0296855 -0.033258 0.0075" rpy="0 0 0"/>
    <parent link="l_foot"/>
    <child link="l_sole_skin_20"/>
    <dynamics damping="0.1"/>
  </joint>
  <link name="l_sole_skin_21"/>
  <joint name="l_sole_skin_21_fixed_joint" type="fixed">
    <origin xyz="0.0277448 0.0184532 0.0075" rpy="0 0 0"/>
    <parent link="l_foot"/>
    <child link="l_sole_skin_21"/>
    <dynamics damping="0.1"/>
  </joint>
  <link name="l_sole_skin_22"/>
  <joint name="l_sole_skin_22_fixed_joint" type="fixed">
    <origin xyz="0.0357785 -0.0193429 0.0075" rpy="0 0 0"/>
    <parent link="l_foot"/>
    <child link="l_sole_skin_22"/>
    <dynamics damping="0.1"/>
  </joint>
  <link name="l_sole_skin_24"/>
  <joint name="l_sole_skin_24_fixed_joint" type="fixed">
    <origin xyz="0.0030465 -0.0263003 0.0075" rpy="0 0 0"/>
    <parent link="l_foot"/>
    <child link="l_sole_skin_24"/>
    <dynamics damping="0.1"/>
  </joint>
  <link name="l_sole_skin_25"/>
  <joint name="l_sole_skin_25_fixed_joint" type="fixed">
    <origin xyz="0.0174041 -0.0133722 0.0075" rpy="0 0 0"/>
    <parent link="l_foot"/>
    <child link="l_sole_skin_25"/>
    <dynamics damping="0.1"/>
  </joint>
  <link name="l_sole_skin_26"/>
  <joint name="l_sole_skin_26_fixed_joint" type="fixed">
    <origin xyz="0.0133872 0.0055251 0.0075" rpy="0 0 0"/>
    <parent link="l_foot"/>
    <child link="l_sole_skin_26"/>
    <dynamics damping="0.1"/>
  </joint>
  <link name="l_sole_skin_27"/>
  <joint name="l_sole_skin_27_fixed_joint" type="fixed">
    <origin xyz="-0.0049872 0.0114958 0.0075" rpy="0 0 0"/>
    <parent link="l_foot"/>
    <child link="l_sole_skin_27"/>
    <dynamics damping="0.1"/>
  </joint>
  <link name="l_sole_skin_28"/>
  <joint name="l_sole_skin_28_fixed_joint" type="fixed">
    <origin xyz="-0.0193448 -0.0014323 0.0075" rpy="0 0 0"/>
    <parent link="l_foot"/>
    <child link="l_sole_skin_28"/>
    <dynamics damping="0.1"/>
  </joint>
  <link name="l_sole_skin_29"/>
  <joint name="l_sole_skin_29_fixed_joint" type="fixed">
    <origin xyz="-0.0153279 -0.0203296 0.0075" rpy="0 0 0"/>
    <parent link="l_foot"/>
    <child link="l_sole_skin_29"/>
    <dynamics damping="0.1"/>
  </joint>
  <link name="torso_1">
    <inertial>
      <origin xyz="0.0270921359 0.02914798 -0.0004398" rpy="0 0 0"/>
      <mass value="0.67144"/>
      <inertia ixx="0.00040911" ixy="-1.04522e-06" ixz="-1.02516e-06" iyy="0.000384141" iyz="6.50708e-06" izz="0.000299445"/>
    </inertial>
    <visual>
      <origin xyz="0.0270462998093 0.032 0.0364" rpy="0 0 0"/>
      <geometry>
        <mesh filename="package://iCub/meshes/simmechanics/sim_sea_2-5_lap_belt_1_prt-binary.stl" scale="0.001 0.001 0.001"/>
      </geometry>
      <material name="pink">
        <color rgba="1 0 1 1"/>
      </material>
    </visual>
    <collision>
      <origin xyz="0.0270462998093 0.032 0.0364" rpy="0 0 0"/>
      <geometry>
        <mesh filename="package://iCub/meshes/simmechanics/sim_sea_2-5_lap_belt_1_prt-binary.stl" scale="0.001 0.001 0.001"/>
      </geometry>
    </collision>
  </link>
  <joint name="torso_pitch" type="revolute">
    <origin xyz="0 0.0270463 0" rpy="1.57079632679 0 -1.57079632679"/>
    <axis xyz="1.0 0.0 0.0"/>
    <parent link="root_link"/>
    <child link="torso_1"/>
    <limit effort="50000" lower="-0.349065850399" upper="1.2217304764" velocity="50000"/>
    <dynamics damping="1.0" friction="0.0"/>
  </joint>
  <link name="torso_2">
    <inertial>
      <origin xyz="-0.000113507809265 0.0361525 0.0570963" rpy="0 0 0"/>
      <mass value="0.425685"/>
      <inertia ixx="0.000829234" ixy="2.37006e-08" ixz="9.25231e-08" iyy="0.000436517" iyz="-1.74814e-07" izz="0.000604802"/>
    </inertial>
    <visual>
      <origin xyz="0 0.1433 0.0386531" rpy="0 0 0"/>
      <geometry>
        <mesh filename="package://iCub/meshes/simmechanics/sim_sea_2-5_lap_belt_2_prt-binary.stl" scale="0.001 0.001 0.001"/>
      </geometry>
      <material name="cyan">
        <color rgba="0 1 1 1"/>
      </material>
    </visual>
    <collision>
      <origin xyz="0 0.1433 0.0386531" rpy="0 0 0"/>
      <geometry>
        <mesh filename="package://iCub/meshes/simmechanics/sim_sea_2-5_lap_belt_2_prt-binary.stl" scale="0.001 0.001 0.001"/>
      </geometry>
    </collision>
  </link>
  <joint name="torso_roll" type="revolute">
    <origin xyz="0.0270462998093 0.032 -0.0573446" rpy="0 0 0"/>
    <axis xyz="0.0 0.0 -1.0"/>
    <parent link="torso_1"/>
    <child link="torso_2"/>
    <limit effort="50000" lower="-0.523598775598" upper="0.523598775598" velocity="50000"/>
    <dynamics damping="1.0" friction="0.0"/>
  </joint>
  <link name="chest">
    <inertial>
      <origin xyz="0.000188619190735 0.073091 -0.0472381" rpy="0 0 0"/>
      <mass value="7.638"/>
      <inertia ixx="0.0430324878618" ixy="2.91075388804e-05" ixz="0.000181985229949" iyy="0.0440835725548" iyz="-0.000429106409108" izz="0.0260563249911"/>
    </inertial>
    <visual>
      <origin xyz="0 0.0928 -0.024189" rpy="0 0 0"/>
      <geometry>
        <mesh filename="package://iCub/meshes/simmechanics/sim_sea_2-5_chest_bb_prt-binary.stl" scale="0.001 0.001 0.001"/>
      </geometry>
      <material name="green">
        <color rgba="0 1 0 1"/>
      </material>
    </visual>
    <collision>
      <origin xyz="0 0.0928 -0.024189" rpy="0 0 0"/>
      <geometry>
        <mesh filename="package://iCub/meshes/simmechanics/sim_sea_2-5_chest_bb_prt-binary.stl" scale="0.001 0.001 0.001"/>
      </geometry>
    </collision>
  </link>
  <joint name="torso_yaw" type="revolute">
    <origin xyz="0 0.05 0.0628421" rpy="0 0 0"/>
    <axis xyz="0.0 -1.0 0.0"/>
    <parent link="torso_2"/>
    <child link="chest"/>
    <limit effort="50000" lower="-0.872664625997" upper="0.872664625997" velocity="50000"/>
    <dynamics damping="1.0" friction="0.0"/>
  </joint>
  <link name="r_shoulder_1">
    <inertial>
      <origin xyz="-0.0122656014133 3.2e-05 -0.00321064290449" rpy="0 0 0"/>
      <mass value="0.114862"/>
      <inertia ixx="0.01" ixy="-1.65173e-08" ixz="-3.55626e-06" iyy="0.01" iyz="-6.13337e-08" izz="0.01"/>
    </inertial>
    <visual>
      <origin xyz="0.0990079253076 0 -0.0265292487558" rpy="0 0 0"/>
      <geometry>
        <mesh filename="package://iCub/meshes/simmechanics/sim_sea_2-5_r_shoulder_1_prt-binary.stl" scale="0.001 0.001 0.001"/>
      </geometry>
      <material name="white">
        <color rgba="1 1 1 1"/>
      </material>
    </visual>
    <collision>
      <origin xyz="0.0990079253076 0 -0.0265292487558" rpy="0 0 0"/>
      <geometry>
        <mesh filename="package://iCub/meshes/simmechanics/sim_sea_2-5_r_shoulder_1_prt-binary.stl" scale="0.001 0.001 0.001"/>
      </geometry>
    </collision>
  </link>
  <joint name="r_shoulder_pitch" type="revolute">
    <origin xyz="-0.120015999809 0.0928 0.0079693" rpy="0 -0.523598883792 3.14159265359"/>
    <axis xyz="-0.965925926173 0.0 0.258819275525"/>
    <parent link="chest"/>
    <child link="r_shoulder_1"/>
    <limit effort="50000" lower="-1.66678943565" upper="0.174532925199" velocity="50000"/>
    <dynamics damping="1.0" friction="0.0"/>
  </joint>
  <link name="r_shoulder_2">
    <inertial>
      <origin xyz="-0.0214141709438 0.000271725272551 -0.0194402344535" rpy="0 0 0"/>
      <mass value="0.238162"/>
      <inertia ixx="0.01" ixy="-1.12091e-07" ixz="1.02574e-05" iyy="0.01" iyz="1.19785e-06" izz="0.01"/>
    </inertial>
    <visual>
      <origin xyz="0.106587808568 2.31914715418e-07 -0.0407392121175" rpy="0 0 0"/>
      <geometry>
        <mesh filename="package://iCub/meshes/simmechanics/sim_sea_2-5_r_shoulder_2_prt-binary.stl" scale="0.001 0.001 0.001"/>
      </geometry>
      <material name="dblue">
        <color rgba="0 0 0.8 1"/>
      </material>
    </visual>
    <collision>
      <origin xyz="0.106587808568 2.31914715418e-07 -0.0407392121175" rpy="0 0 0"/>
      <geometry>
        <mesh filename="package://iCub/meshes/simmechanics/sim_sea_2-5_r_shoulder_2_prt-binary.stl" scale="0.001 0.001 0.001"/>
      </geometry>
    </collision>
  </link>
  <joint name="r_shoulder_roll" type="revolute">
    <origin xyz="-0.00758046573227 0 0.0142102463639" rpy="-0.270597611583 -0.252680154648 -1.50155680035"/>
    <axis xyz="-0.258819 -2.77555756156e-17 -0.965926"/>
    <parent link="r_shoulder_1"/>
    <child link="r_shoulder_2"/>
    <limit effort="50000" lower="0.0" upper="2.80648943721" velocity="50000"/>
    <dynamics damping="1.0" friction="0.0"/>
  </joint>
  <link name="r_shoulder_3">
    <inertial>
      <origin xyz="-0.0267620766871 -6.99999999998e-06 0.0146999207713" rpy="0 0 0"/>
      <mass value="0.35913"/>
      <inertia ixx="0.01" ixy="3.60361e-07" ixz="4.94445e-05" iyy="0.01" iyz="2.65919e-07" izz="0.01"/>
    </inertial>
    <visual>
      <origin xyz="0.131933879164 0 -0.0353515667647" rpy="0 0 0"/>
      <geometry>
        <mesh filename="package://iCub/meshes/simmechanics/sim_sea_2-5_r_upper_arm_prt-binary.stl" scale="0.001 0.001 0.001"/>
      </geometry>
      <material name="dgreen">
        <color rgba="0.1 0.8 0.1 1"/>
      </material>
    </visual>
    <collision>
      <origin xyz="0.131933879164 0 -0.0353515667647" rpy="0 0 0"/>
      <geometry>
        <mesh filename="package://iCub/meshes/simmechanics/sim_sea_2-5_r_upper_arm_prt-binary.stl" scale="0.001 0.001 0.001"/>
      </geometry>
    </collision>
  </link>
  <joint name="r_shoulder_yaw" type="revolute">
    <origin xyz="-0.0253460713232 2.32750427306e-07 -0.00538764806457" rpy="-0.252689546175 0.0085186183214 0.067039889142"/>
    <axis xyz="0.965925843882 -2.22044604925e-16 -0.258818979447"/>
    <parent link="r_shoulder_2"/>
    <child link="r_shoulder_3"/>
    <limit effort="50000" lower="-0.645771823238" upper="1.3962634016" velocity="50000"/>
    <dynamics damping="1.0" friction="0.0"/>
  </joint>
  <link name="r_upper_arm">
    <inertial>
      <origin xyz="-0.006087 0.000126 0.0293121" rpy="0 1.30899700697 0"/>
      <mass value="0.745104"/>
      <inertia ixx="0.000509527" ixy="1.19292e-06" ixz="-1.17426e-05" iyy="0.000668487" iyz="1.13363e-06" izz="0.000599254"/>
    </inertial>
    <visual>
      <origin xyz="-0.015 0 -0.1933" rpy="0 1.30899700697 0"/>
      <geometry>
        <mesh filename="package://iCub/meshes/simmechanics/sim_sea_2-5_r_elbow_prt-binary.stl" scale="0.001 0.001 0.001"/>
      </geometry>
      <material name="gray">
        <color rgba="0.5 0.5 0.5 1"/>
      </material>
    </visual>
    <collision>
      <origin xyz="-0.015 0 -0.1933" rpy="0 1.30899700697 0"/>
      <geometry>
        <mesh filename="package://iCub/meshes/simmechanics/sim_sea_2-5_r_elbow_prt-binary.stl" scale="0.001 0.001 0.001"/>
      </geometry>
    </collision>
  </link>
  <joint name="r_arm_ft_sensor" type="fixed">
    <origin xyz="-0.0508973017665 0 0.0291670296206" rpy="0 -1.30899700697 0"/>
    <parent link="r_shoulder_3"/>
    <child link="r_upper_arm"/>
    <dynamics damping="0.1"/>
  </joint>
  <link name="r_elbow_1">
    <inertial>
      <origin xyz="-0.00673912932843 0.0188019 -0.00465769236154" rpy="0 0 0"/>
      <mass value="0.267903"/>
      <inertia ixx="0.01" ixy="7.36974e-06" ixz="-1.04536e-05" iyy="0.01" iyz="3.92498e-06" izz="0.01"/>
    </inertial>
    <visual>
      <origin xyz="0.259390463317 0.0224999 -0.0850325886962" rpy="0 0 0"/>
      <geometry>
        <mesh filename="package://iCub/meshes/simmechanics/sim_sea_2-5_r_elbow_prosup_prt-binary.stl" scale="0.001 0.001 0.001"/>
      </geometry>
      <material name="green">
        <color rgba="0 1 0 1"/>
      </material>
    </visual>
    <collision>
      <origin xyz="0.259390463317 0.0224999 -0.0850325886962" rpy="0 0 0"/>
      <geometry>
        <mesh filename="package://iCub/meshes/simmechanics/sim_sea_2-5_r_elbow_prosup_prt-binary.stl" scale="0.001 0.001 0.001"/>
      </geometry>
    </collision>
  </link>
  <joint name="r_elbow" type="revolute">
    <origin xyz="0 -0.0224999 0.07926" rpy="0 1.30899700697 0"/>
    <axis xyz="2.22044604925e-16 1.0 0.0"/>
    <parent link="r_upper_arm"/>
    <child link="r_elbow_1"/>
    <limit effort="50000" lower="0.261799387799" upper="1.85004900711" velocity="50000"/>
    <dynamics damping="1.0" friction="0.0"/>
  </joint>
  <link name="r_forearm">
    <inertial>
      <origin xyz="-0.0404391133886 -0.000328 0.00532733448387" rpy="0 0 0"/>
      <mass value="0.6347"/>
      <inertia ixx="0.000370044" ixy="-1.65419e-06" ixz="0.00010538" iyy="0.000672279" iyz="1.1456e-06" izz="0.000553637"/>
    </inertial>
    <visual>
      <origin xyz="0.296886967375 0 -0.0795506015227" rpy="0 0 0"/>
      <geometry>
        <mesh filename="package://iCub/meshes/simmechanics/sim_sea_2-5_r_forearm_prt-binary.stl" scale="0.001 0.001 0.001"/>
      </geometry>
      <material name="black">
        <color rgba="0 0 0 1"/>
      </material>
    </visual>
    <collision>
      <origin xyz="0.296886967375 0 -0.0795506015227" rpy="0 0 0"/>
      <geometry>
        <mesh filename="package://iCub/meshes/simmechanics/sim_sea_2-5_r_forearm_prt-binary.stl" scale="0.001 0.001 0.001"/>
      </geometry>
    </collision>
  </link>
  <joint name="r_wrist_prosup" type="revolute">
    <origin xyz="-0.0384624299027 0.0224999 -0.00522316819403" rpy="0 0 0"/>
    <axis xyz="0.965925843882 -2.22044604925e-16 -0.258818979447"/>
    <parent link="r_elbow_1"/>
    <child link="r_forearm"/>
    <limit effort="50000" lower="-1.0471975512" upper="1.0471975512" velocity="50000"/>
    <dynamics damping="1.0" friction="0.0"/>
  </joint>
  <link name="r_forearm_skin_0"/>
  <joint name="r_forearm_skin_0_fixed_joint" type="fixed">
    <origin xyz="-0.0454493286618 0.030077 -0.00628656037901" rpy="1.69181522292 -0.271026744341 -3.06880438227"/>
    <parent link="r_forearm"/>
    <child link="r_forearm_skin_0"/>
    <dynamics damping="0.1"/>
  </joint>
  <link name="r_forearm_skin_1"/>
  <joint name="r_forearm_skin_1_fixed_joint" type="fixed">
    <origin xyz="-0.0333728935826 0.028826 -0.0198456867711" rpy="1.86694023278 -0.274442533764 -3.09946977984"/>
    <parent link="r_forearm"/>
    <child link="r_forearm_skin_1"/>
    <dynamics damping="0.1"/>
  </joint>
  <link name="r_forearm_skin_2"/>
  <joint name="r_forearm_skin_2_fixed_joint" type="fixed">
    <origin xyz="-0.0146988929852 0.031279 -0.0160117338371" rpy="1.72847287019 -0.264015219116 -3.12733260687"/>
    <parent link="r_forearm"/>
    <child link="r_forearm_skin_2"/>
    <dynamics damping="0.1"/>
  </joint>
  <link name="r_forearm_skin_3"/>
  <joint name="r_forearm_skin_3_fixed_joint" type="fixed">
    <origin xyz="-0.045567293622 -0.030891 -0.00633000929351" rpy="-1.69487280859 -0.269757727104 3.07959743574"/>
    <parent link="r_forearm"/>
    <child link="r_forearm_skin_3"/>
    <dynamics damping="0.1"/>
  </joint>
  <link name="r_forearm_skin_4"/>
  <joint name="r_forearm_skin_4_fixed_joint" type="fixed">
    <origin xyz="-0.0635326332996 -0.0281163 -0.00899784258066" rpy="-1.80734960194 -0.0393131796327 2.97997643632"/>
    <parent link="r_forearm"/>
    <child link="r_forearm_skin_4"/>
    <dynamics damping="0.1"/>
  </joint>
  <link name="r_forearm_skin_5"/>
  <joint name="r_forearm_skin_5_fixed_joint" type="fixed">
    <origin xyz="-0.0688211941968 -0.0179483 -0.0231133361791" rpy="-2.5410475806 -0.385627260642 3.05486989667"/>
    <parent link="r_forearm"/>
    <child link="r_forearm_skin_5"/>
    <dynamics damping="0.1"/>
  </joint>
  <link name="r_forearm_skin_6"/>
  <joint name="r_forearm_skin_6_fixed_joint" type="fixed">
    <origin xyz="-0.0333948436255 -0.0295479 -0.0198325583433" rpy="-1.86628164653 -0.272886336181 3.10448585021"/>
    <parent link="r_forearm"/>
    <child link="r_forearm_skin_6"/>
    <dynamics damping="0.1"/>
  </joint>
  <link name="r_forearm_skin_7"/>
  <joint name="r_forearm_skin_7_fixed_joint" type="fixed">
    <origin xyz="-0.0147224260074 -0.0319422 -0.0159326482703" rpy="-1.72564640857 -0.263992900722 3.12721254266"/>
    <parent link="r_forearm"/>
    <child link="r_forearm_skin_7"/>
    <dynamics damping="0.1"/>
  </joint>
  <link name="r_forearm_skin_8"/>
  <joint name="r_forearm_skin_8_fixed_joint" type="fixed">
    <origin xyz="-0.0228528628554 -0.0097862 -0.041885146375" rpy="-2.94801979137 -0.270605090512 3.13980557285"/>
    <parent link="r_forearm"/>
    <child link="r_forearm_skin_8"/>
    <dynamics damping="0.1"/>
  </joint>
  <link name="r_forearm_skin_9"/>
  <joint name="r_forearm_skin_9_fixed_joint" type="fixed">
    <origin xyz="-0.0376032734683 -0.018955 -0.0340163371186" rpy="-2.58406517708 -0.2933217196 3.12128407396"/>
    <parent link="r_forearm"/>
    <child link="r_forearm_skin_9"/>
    <dynamics damping="0.1"/>
  </joint>
  <link name="r_forearm_skin_10"/>
  <joint name="r_forearm_skin_10_fixed_joint" type="fixed">
    <origin xyz="-0.0542285210888 -0.0097861 -0.0321469082866" rpy="-2.94123313406 -0.328304471922 3.1276263754"/>
    <parent link="r_forearm"/>
    <child link="r_forearm_skin_10"/>
    <dynamics damping="0.1"/>
  </joint>
  <link name="r_forearm_skin_11"/>
  <joint name="r_forearm_skin_11_fixed_joint" type="fixed">
    <origin xyz="-0.0542240912024 0.009043 -0.0321431259452" rpy="2.93929835957 -0.329101389745 -3.12731916446"/>
    <parent link="r_forearm"/>
    <child link="r_forearm_skin_11"/>
    <dynamics damping="0.1"/>
  </joint>
  <link name="r_forearm_skin_12"/>
  <joint name="r_forearm_skin_12_fixed_joint" type="fixed">
    <origin xyz="-0.0375994633868 0.018216 -0.0340191179961" rpy="2.58303505964 -0.29483050207 -3.12026580314"/>
    <parent link="r_forearm"/>
    <child link="r_forearm_skin_12"/>
    <dynamics damping="0.1"/>
  </joint>
  <link name="r_forearm_skin_13"/>
  <joint name="r_forearm_skin_13_fixed_joint" type="fixed">
    <origin xyz="-0.0228550868405 0.009048 -0.0418919009209" rpy="2.94896679198 -0.270583947189 -3.13981880352"/>
    <parent link="r_forearm"/>
    <child link="r_forearm_skin_13"/>
    <dynamics damping="0.1"/>
  </joint>
  <link name="r_forearm_skin_14"/>
  <joint name="r_forearm_skin_14_fixed_joint" type="fixed">
    <origin xyz="-0.0687703276364 0.01716 -0.0230239558511" rpy="2.48044991868 -0.295542566281 -2.91877349139"/>
    <parent link="r_forearm"/>
    <child link="r_forearm_skin_14"/>
    <dynamics damping="0.1"/>
  </joint>
  <link name="r_forearm_skin_15"/>
  <joint name="r_forearm_skin_15_fixed_joint" type="fixed">
    <origin xyz="-0.0633786419662 0.027145 -0.00879405455544" rpy="1.80492769741 -0.289783281916 -3.02765891428"/>
    <parent link="r_forearm"/>
    <child link="r_forearm_skin_15"/>
    <dynamics damping="0.1"/>
  </joint>
  <link name="r_forearm_skin_16"/>
  <joint name="r_forearm_skin_16_fixed_joint" type="fixed">
    <origin xyz="-0.03792482187 0.030487 0.0206369503605" rpy="1.41280007026 -0.25082462139 -3.06572742343"/>
    <parent link="r_forearm"/>
    <child link="r_forearm_skin_16"/>
    <dynamics damping="0.1"/>
  </joint>
  <link name="r_forearm_skin_17"/>
  <joint name="r_forearm_skin_17_fixed_joint" type="fixed">
    <origin xyz="-0.0543170548821 0.027725 0.0303291240179" rpy="1.27223716205 -0.23059304703 -3.03195542837"/>
    <parent link="r_forearm"/>
    <child link="r_forearm_skin_17"/>
    <dynamics damping="0.1"/>
  </joint>
  <link name="r_forearm_skin_19"/>
  <joint name="r_forearm_skin_19_fixed_joint" type="fixed">
    <origin xyz="-0.0381266107138 -0.0312941 0.020690605393" rpy="-1.41560888703 -0.252569290226 3.07715217889"/>
    <parent link="r_forearm"/>
    <child link="r_forearm_skin_19"/>
    <dynamics damping="0.1"/>
  </joint>
  <link name="r_forearm_skin_22"/>
  <joint name="r_forearm_skin_22_fixed_joint" type="fixed">
    <origin xyz="-0.0544173950421 -0.0287223 0.0306037516609" rpy="-1.2658242728 -0.234328151379 3.04788317971"/>
    <parent link="r_forearm"/>
    <child link="r_forearm_skin_22"/>
    <dynamics damping="0.1"/>
  </joint>
  <link name="r_forearm_skin_24"/>
  <joint name="r_forearm_skin_24_fixed_joint" type="fixed">
    <origin xyz="-0.0700345319564 -0.0097164 0.050069108714" rpy="-0.23489327644 -0.0388172993982 3.08676345459"/>
    <parent link="r_forearm"/>
    <child link="r_forearm_skin_24"/>
    <dynamics damping="0.1"/>
  </joint>
  <link name="r_forearm_skin_25"/>
  <joint name="r_forearm_skin_25_fixed_joint" type="fixed">
    <origin xyz="-0.0535999216295 -0.0182238 0.0454698125045" rpy="-0.564295527715 -0.136980272197 3.05963182792"/>
    <parent link="r_forearm"/>
    <child link="r_forearm_skin_25"/>
    <dynamics damping="0.1"/>
  </joint>
  <link name="r_forearm_skin_28"/>
  <joint name="r_forearm_skin_28_fixed_joint" type="fixed">
    <origin xyz="-0.0535859272148 0.017412 0.045352037397" rpy="0.59077064408 -0.0531607226063 3.10597081167"/>
    <parent link="r_forearm"/>
    <child link="r_forearm_skin_28"/>
    <dynamics damping="0.1"/>
  </joint>
  <link name="r_forearm_skin_29"/>
  <joint name="r_forearm_skin_29_fixed_joint" type="fixed">
    <origin xyz="-0.0700355805031 0.008954 0.0500111036233" rpy="0.248630982209 -0.0383136556786 -3.08328999116"/>
    <parent link="r_forearm"/>
    <child link="r_forearm_skin_29"/>
    <dynamics damping="0.1"/>
  </joint>
  <link name="r_forearm_dh_frame"/>
  <joint name="r_forearm_dh_frame_fixed_joint" type="fixed">
    <origin xyz="-0.102871102373 7.00000000002e-06 0.0275642213111" rpy="-0.261799319827 0 -1.57079632679"/>
    <parent link="r_forearm"/>
    <child link="r_forearm_dh_frame"/>
    <dynamics damping="0.1"/>
  </joint>
  <link name="r_wrist_1">
    <inertial>
      <origin xyz="0.000986101955547 -0.001176 0.00410132736724" rpy="0 0 0"/>
      <mass value="0.0362615"/>
      <inertia ixx="0.01" ixy="-3.10462e-08" ixz="-9.44554e-07" iyy="0.01" iyz="-1.59685e-07" izz="0.01"/>
    </inertial>
    <visual>
      <origin xyz="0.400392176248 -7.00000000009e-06 -0.104748304516" rpy="0 0 0"/>
      <geometry>
        <mesh filename="package://iCub/meshes/simmechanics/sim_sea_2-5_r_wrist_pitch_prt-binary.stl" scale="0.001 0.001 0.001"/>
      </geometry>
      <material name="red">
        <color rgba="1 0 0 1"/>
      </material>
    </visual>
    <collision>
      <origin xyz="0.400392176248 -7.00000000009e-06 -0.104748304516" rpy="0 0 0"/>
      <geometry>
        <mesh filename="package://iCub/meshes/simmechanics/sim_sea_2-5_r_wrist_pitch_prt-binary.stl" scale="0.001 0.001 0.001"/>
      </geometry>
    </collision>
  </link>
  <joint name="r_wrist_pitch" type="revolute">
    <origin xyz="-0.103505208873 7.00000000002e-06 0.0251977029936" rpy="0 0 0"/>
    <axis xyz="0.258818979447 0.0 0.965925843882"/>
    <parent link="r_forearm"/>
    <child link="r_wrist_1"/>
    <limit effort="50000" lower="-1.3962634016" upper="0.436332312999" velocity="50000"/>
    <dynamics damping="1.0" friction="0.0"/>
  </joint>
  <link name="r_hand">
    <inertial>
      <origin xyz="-0.064668163717 0.0056002 0.0226812940918" rpy="0 0 0"/>
      <mass value="0.248289"/>
      <inertia ixx="0.01" ixy="-2.3536e-06" ixz="3.61526e-05" iyy="0.01" iyz="2.07146e-05" izz="0.01"/>
    </inertial>
    <visual>
      <origin xyz="0.399758069749 0.0194929 -0.107114822834" rpy="0 0 0"/>
      <geometry>
        <mesh filename="package://iCub/meshes/simmechanics/sim_sea_2-5_r_hand_prt-binary.stl" scale="0.001 0.001 0.001"/>
      </geometry>
      <material name="blue">
        <color rgba="0 0 1 1"/>
      </material>
    </visual>
    <collision>
      <origin xyz="0.399758069749 0.0194929 -0.107114822834" rpy="0 0 0"/>
      <geometry>
        <mesh filename="package://iCub/meshes/simmechanics/sim_sea_2-5_r_hand_prt-binary.stl" scale="0.001 0.001 0.001"/>
      </geometry>
    </collision>
  </link>
  <joint name="r_wrist_yaw" type="revolute">
    <origin xyz="0.000634106499644 -0.0194999 0.00236651831751" rpy="0 0 0"/>
    <axis xyz="2.22044604925e-16 1.0 0.0"/>
    <parent link="r_wrist_1"/>
    <child link="r_hand"/>
    <limit effort="50000" lower="-0.349065850399" upper="0.436332312999" velocity="50000"/>
    <dynamics damping="1.0" friction="0.0"/>
  </joint>
  <link name="r_hand_dh_frame"/>
  <joint name="r_hand_dh_frame_fixed_joint" type="fixed">
    <origin xyz="-0.0576542978428 -0.0055568 0.0136938323083" rpy="-1.57079632679 -0.261799319827 3.14159265359"/>
    <parent link="r_hand"/>
    <child link="r_hand_dh_frame"/>
    <dynamics damping="0.1"/>
  </joint>
  <link name="l_shoulder_1">
    <inertial>
      <origin xyz="-0.008985 -3.3e-05 -0.0088998" rpy="0 0 0"/>
      <mass value="0.114882"/>
      <inertia ixx="0.01" ixy="-1.77064e-08" ixz="3.55951e-06" iyy="0.01" iyz="6.57597e-08" izz="0.01"/>
    </inertial>
    <visual>
      <origin xyz="-0.120257482 0 -0.032223" rpy="0 0 0"/>
      <geometry>
        <mesh filename="package://iCub/meshes/simmechanics/sim_sea_2-5_l_shoulder_1_prt-binary.stl" scale="0.001 0.001 0.001"/>
      </geometry>
      <material name="yellow">
        <color rgba="1 1 0 1"/>
      </material>
    </visual>
    <collision>
      <origin xyz="-0.120257482 0 -0.032223" rpy="0 0 0"/>
      <geometry>
        <mesh filename="package://iCub/meshes/simmechanics/sim_sea_2-5_l_shoulder_1_prt-binary.stl" scale="0.001 0.001 0.001"/>
      </geometry>
    </collision>
  </link>
  <joint name="l_shoulder_pitch" type="revolute">
    <origin xyz="0.120016000191 0.0928 0.0079693" rpy="0 0 0"/>
    <axis xyz="0.965926 0.0 0.258819"/>
    <parent link="chest"/>
    <child link="l_shoulder_1"/>
    <limit effort="50000" lower="-1.66678943565" upper="0.174532925199" velocity="50000"/>
    <dynamics damping="1.0" friction="0.0"/>
  </joint>
  <link name="l_shoulder_2">
    <inertial>
      <origin xyz="0.0214745951272 0.000268957899687 -0.0194107361535" rpy="0 0 0"/>
      <mass value="0.238162"/>
      <inertia ixx="0.01" ixy="1.19701e-07" ixz="-1.29687e-05" iyy="0.01" iyz="1.20112e-06" izz="0.01"/>
    </inertial>
    <visual>
      <origin xyz="-0.106586691581 1.10800934344e-07 -0.040743380771" rpy="0 0 0"/>
      <geometry>
        <mesh filename="package://iCub/meshes/simmechanics/sim_sea_2-5_l_shoulder_2_prt-binary.stl" scale="0.001 0.001 0.001"/>
      </geometry>
      <material name="pink">
        <color rgba="1 0 1 1"/>
      </material>
    </visual>
    <collision>
      <origin xyz="-0.106586691581 1.10800934344e-07 -0.040743380771" rpy="0 0 0"/>
      <geometry>
        <mesh filename="package://iCub/meshes/simmechanics/sim_sea_2-5_l_shoulder_2_prt-binary.stl" scale="0.001 0.001 0.001"/>
      </geometry>
    </collision>
  </link>
  <joint name="l_shoulder_roll" type="revolute">
    <origin xyz="-0.013671 0 0.0085204" rpy="0.270597317916 0.252680177542 -1.50155688559"/>
    <axis xyz="-0.258819 2.77555756156e-17 0.965926"/>
    <parent link="l_shoulder_1"/>
    <child link="l_shoulder_2"/>
    <limit effort="50000" lower="0.0" upper="2.80648943721" velocity="50000"/>
    <dynamics damping="1.0" friction="0.0"/>
  </joint>
  <link name="l_shoulder_3">
    <inertial>
      <origin xyz="0.026798412222 -1.6e-05 0.0146956806177" rpy="0 0 0"/>
      <mass value="0.35913"/>
      <inertia ixx="0.01" ixy="-2.22441e-07" ixz="-4.95846e-05" iyy="0.01" iyz="1.07538e-07" izz="0.01"/>
    </inertial>
    <visual>
      <origin xyz="-0.131901037685 0 -0.0353427669194" rpy="0 0 0"/>
      <geometry>
        <mesh filename="package://iCub/meshes/simmechanics/sim_sea_2-5_l_upper_arm_prt-binary.stl" scale="0.001 0.001 0.001"/>
      </geometry>
      <material name="cyan">
        <color rgba="0 1 1 1"/>
      </material>
    </visual>
    <collision>
      <origin xyz="-0.131901037685 0 -0.0353427669194" rpy="0 0 0"/>
      <geometry>
        <mesh filename="package://iCub/meshes/simmechanics/sim_sea_2-5_l_upper_arm_prt-binary.stl" scale="0.001 0.001 0.001"/>
      </geometry>
    </collision>
  </link>
  <joint name="l_shoulder_yaw" type="revolute">
    <origin xyz="0.0253143468312 1.11636438205e-07 -0.00540061656265" rpy="-0.252689546175 -0.0085186183214 -0.067039889142"/>
    <axis xyz="0.965925843882 2.22044604925e-16 0.258818979447"/>
    <parent link="l_shoulder_2"/>
    <child link="l_shoulder_3"/>
    <limit effort="50000" lower="-0.645771823238" upper="1.3962634016" velocity="50000"/>
    <dynamics damping="1.0" friction="0.0"/>
  </joint>
  <link name="l_upper_arm">
    <inertial>
      <origin xyz="-0.006121 -0.000189 0.0293684" rpy="0 -1.30899700697 -3.14159265359"/>
      <mass value="0.746799"/>
      <inertia ixx="0.000509731" ixy="-6.90767e-07" ixz="1.20048e-05" iyy="0.00067086" iyz="3.11833e-06" izz="0.000601202"/>
    </inertial>
    <visual>
      <origin xyz="-0.015 0 -0.1933" rpy="0 -1.30899700697 -3.14159265359"/>
      <geometry>
        <mesh filename="package://iCub/meshes/simmechanics/sim_sea_2-5_l_elbow_prt-binary.stl" scale="0.001 0.001 0.001"/>
      </geometry>
      <material name="green">
        <color rgba="0 1 0 1"/>
      </material>
    </visual>
    <collision>
      <origin xyz="-0.015 0 -0.1933" rpy="0 -1.30899700697 -3.14159265359"/>
      <geometry>
        <mesh filename="package://iCub/meshes/simmechanics/sim_sea_2-5_l_elbow_prt-binary.stl" scale="0.001 0.001 0.001"/>
      </geometry>
    </collision>
  </link>
  <joint name="l_arm_ft_sensor" type="fixed">
    <origin xyz="0.0509301432452 0 0.0291758294659" rpy="0 -1.30899700697 3.14159265359"/>
    <parent link="l_shoulder_3"/>
    <child link="l_upper_arm"/>
    <dynamics damping="0.1"/>
  </joint>
  <link name="l_elbow_1">
    <inertial>
      <origin xyz="0.00673912932843 0.0303019 -0.00465769236154" rpy="0 0 0"/>
      <mass value="0.267903"/>
      <inertia ixx="0.01" ixy="-7.37159e-06" ixz="1.04505e-05" iyy="0.01" iyz="3.9319e-06" izz="0.01"/>
    </inertial>
    <visual>
      <origin xyz="-0.259390463317 0.0339999 -0.0850325886962" rpy="0 0 0"/>
      <geometry>
        <mesh filename="package://iCub/meshes/simmechanics/sim_sea_2-5_l_elbow_prosup_prt-binary.stl" scale="0.001 0.001 0.001"/>
      </geometry>
      <material name="white">
        <color rgba="1 1 1 1"/>
      </material>
    </visual>
    <collision>
      <origin xyz="-0.259390463317 0.0339999 -0.0850325886962" rpy="0 0 0"/>
      <geometry>
        <mesh filename="package://iCub/meshes/simmechanics/sim_sea_2-5_l_elbow_prosup_prt-binary.stl" scale="0.001 0.001 0.001"/>
      </geometry>
    </collision>
  </link>
  <joint name="l_elbow" type="revolute">
    <origin xyz="0 0.0339999 0.07926" rpy="0 -1.30899700697 -3.14159265359"/>
    <axis xyz="2.22044604925e-16 -1.0 0.0"/>
    <parent link="l_upper_arm"/>
    <child link="l_elbow_1"/>
    <limit effort="50000" lower="0.261799387799" upper="1.85004900711" velocity="50000"/>
    <dynamics damping="1.0" friction="0.0"/>
  </joint>
  <link name="l_forearm">
    <inertial>
      <origin xyz="0.0404511828823 -0.000686 0.00532363214379" rpy="0 0 0"/>
      <mass value="0.636185"/>
      <inertia ixx="0.000371447" ixy="4.34562e-06" ixz="-0.000105871" iyy="0.000674229" iyz="4.05222e-06" izz="0.000557115"/>
    </inertial>
    <visual>
      <origin xyz="-0.296886967375 0 -0.0795506015227" rpy="0 0 0"/>
      <geometry>
        <mesh filename="package://iCub/meshes/simmechanics/sim_sea_2-5_l_forearm_prt-binary.stl" scale="0.001 0.001 0.001"/>
      </geometry>
      <material name="dblue">
        <color rgba="0 0 0.8 1"/>
      </material>
    </visual>
    <collision>
      <origin xyz="-0.296886967375 0 -0.0795506015227" rpy="0 0 0"/>
      <geometry>
        <mesh filename="package://iCub/meshes/simmechanics/sim_sea_2-5_l_forearm_prt-binary.stl" scale="0.001 0.001 0.001"/>
      </geometry>
    </collision>
  </link>
  <joint name="l_wrist_prosup" type="revolute">
    <origin xyz="0.0384624299027 0.0339999 -0.00522316819403" rpy="0 0 0"/>
    <axis xyz="0.965925843882 2.22044604925e-16 0.258818979447"/>
    <parent link="l_elbow_1"/>
    <child link="l_forearm"/>
    <limit effort="50000" lower="-1.0471975512" upper="1.0471975512" velocity="50000"/>
    <dynamics damping="1.0" friction="0.0"/>
  </joint>
  <link name="l_forearm_skin_0"/>
  <joint name="l_forearm_skin_0_fixed_joint" type="fixed">
    <origin xyz="0.0454493286618 -0.0323169 -0.00628656037901" rpy="1.69181522292 -0.271026744341 0.0727882713185"/>
    <parent link="l_forearm"/>
    <child link="l_forearm_skin_0"/>
    <dynamics damping="0.1"/>
  </joint>
  <link name="l_forearm_skin_1"/>
  <joint name="l_forearm_skin_1_fixed_joint" type="fixed">
    <origin xyz="0.0333728935826 -0.0310662 -0.0198456867711" rpy="1.86694023278 -0.274442533764 0.0421228737473"/>
    <parent link="l_forearm"/>
    <child link="l_forearm_skin_1"/>
    <dynamics damping="0.1"/>
  </joint>
  <link name="l_forearm_skin_2"/>
  <joint name="l_forearm_skin_2_fixed_joint" type="fixed">
    <origin xyz="0.0146988929852 -0.0335184 -0.0160117338371" rpy="1.72847287019 -0.264015219116 0.0142600467197"/>
    <parent link="l_forearm"/>
    <child link="l_forearm_skin_2"/>
    <dynamics damping="0.1"/>
  </joint>
  <link name="l_forearm_skin_3"/>
  <joint name="l_forearm_skin_3_fixed_joint" type="fixed">
    <origin xyz="0.045567293622 0.028651 -0.00633000929351" rpy="-1.69487280859 -0.269757727104 -0.061995217851"/>
    <parent link="l_forearm"/>
    <child link="l_forearm_skin_3"/>
    <dynamics damping="0.1"/>
  </joint>
  <link name="l_forearm_skin_4"/>
  <joint name="l_forearm_skin_4_fixed_joint" type="fixed">
    <origin xyz="0.0635326332996 0.025877 -0.00899784258066" rpy="-1.81747870108 -0.287406884885 -0.0998316152826"/>
    <parent link="l_forearm"/>
    <child link="l_forearm_skin_4"/>
    <dynamics damping="0.1"/>
  </joint>
  <link name="l_forearm_skin_5"/>
  <joint name="l_forearm_skin_5_fixed_joint" type="fixed">
    <origin xyz="0.0688211941968 0.015709 -0.0231133361791" rpy="-2.5410475806 -0.385627260642 -0.0867227569203"/>
    <parent link="l_forearm"/>
    <child link="l_forearm_skin_5"/>
    <dynamics damping="0.1"/>
  </joint>
  <link name="l_forearm_skin_6"/>
  <joint name="l_forearm_skin_6_fixed_joint" type="fixed">
    <origin xyz="0.0333948436255 0.027308 -0.0198325583433" rpy="-1.86628164653 -0.272886336181 -0.0371068033783"/>
    <parent link="l_forearm"/>
    <child link="l_forearm_skin_6"/>
    <dynamics damping="0.1"/>
  </joint>
  <link name="l_forearm_skin_7"/>
  <joint name="l_forearm_skin_7_fixed_joint" type="fixed">
    <origin xyz="0.0147224260074 0.029702 -0.0159326482703" rpy="-1.72564640857 -0.263992900722 -0.0143801109253"/>
    <parent link="l_forearm"/>
    <child link="l_forearm_skin_7"/>
    <dynamics damping="0.1"/>
  </joint>
  <link name="l_forearm_skin_8"/>
  <joint name="l_forearm_skin_8_fixed_joint" type="fixed">
    <origin xyz="0.0228528628554 0.007546 -0.041885146375" rpy="-2.94801979137 -0.270605090512 -0.00178708074348"/>
    <parent link="l_forearm"/>
    <child link="l_forearm_skin_8"/>
    <dynamics damping="0.1"/>
  </joint>
  <link name="l_forearm_skin_9"/>
  <joint name="l_forearm_skin_9_fixed_joint" type="fixed">
    <origin xyz="0.0376032734683 0.016715 -0.0340163371186" rpy="-2.58406517708 -0.2933217196 -0.0203085796276"/>
    <parent link="l_forearm"/>
    <child link="l_forearm_skin_9"/>
    <dynamics damping="0.1"/>
  </joint>
  <link name="l_forearm_skin_10"/>
  <joint name="l_forearm_skin_10_fixed_joint" type="fixed">
    <origin xyz="0.0542285210888 0.007546 -0.0321469082866" rpy="-2.94123313406 -0.328304471922 -0.0139662781936"/>
    <parent link="l_forearm"/>
    <child link="l_forearm_skin_10"/>
    <dynamics damping="0.1"/>
  </joint>
  <link name="l_forearm_skin_11"/>
  <joint name="l_forearm_skin_11_fixed_joint" type="fixed">
    <origin xyz="0.0542240912024 -0.0112832 -0.0321431259452" rpy="2.93929835957 -0.329101389745 0.0142734891292"/>
    <parent link="l_forearm"/>
    <child link="l_forearm_skin_11"/>
    <dynamics damping="0.1"/>
  </joint>
  <link name="l_forearm_skin_12"/>
  <joint name="l_forearm_skin_12_fixed_joint" type="fixed">
    <origin xyz="0.0375994633868 -0.0204556 -0.0340191179961" rpy="2.58303505964 -0.29483050207 0.021326850448"/>
    <parent link="l_forearm"/>
    <child link="l_forearm_skin_12"/>
    <dynamics damping="0.1"/>
  </joint>
  <link name="l_forearm_skin_13"/>
  <joint name="l_forearm_skin_13_fixed_joint" type="fixed">
    <origin xyz="0.0228550868405 -0.0112878 -0.0418919009209" rpy="2.94896679198 -0.270583947189 0.00177385006765"/>
    <parent link="l_forearm"/>
    <child link="l_forearm_skin_13"/>
    <dynamics damping="0.1"/>
  </joint>
  <link name="l_forearm_skin_14"/>
  <joint name="l_forearm_skin_14_fixed_joint" type="fixed">
    <origin xyz="0.0687703276364 -0.0193999 -0.0230239558511" rpy="2.52462250363 -0.387794511771 0.0912924111683"/>
    <parent link="l_forearm"/>
    <child link="l_forearm_skin_14"/>
    <dynamics damping="0.1"/>
  </joint>
  <link name="l_forearm_skin_15"/>
  <joint name="l_forearm_skin_15_fixed_joint" type="fixed">
    <origin xyz="0.0633786419662 -0.0293843 -0.00879405455544" rpy="1.80492769741 -0.289783281916 0.113933739306"/>
    <parent link="l_forearm"/>
    <child link="l_forearm_skin_15"/>
    <dynamics damping="0.1"/>
  </joint>
  <link name="l_forearm_skin_16"/>
  <joint name="l_forearm_skin_16_fixed_joint" type="fixed">
    <origin xyz="0.03792482187 -0.0327268 0.0206369503605" rpy="1.41280007026 -0.25082462139 0.0758652301584"/>
    <parent link="l_forearm"/>
    <child link="l_forearm_skin_16"/>
    <dynamics damping="0.1"/>
  </joint>
  <link name="l_forearm_skin_17"/>
  <joint name="l_forearm_skin_17_fixed_joint" type="fixed">
    <origin xyz="0.0543170548821 -0.0299646 0.0303291240179" rpy="1.27223716205 -0.23059304703 0.109637225219"/>
    <parent link="l_forearm"/>
    <child link="l_forearm_skin_17"/>
    <dynamics damping="0.1"/>
  </joint>
  <link name="l_forearm_skin_19"/>
  <joint name="l_forearm_skin_19_fixed_joint" type="fixed">
    <origin xyz="0.0381266107138 0.029054 0.020690605393" rpy="-1.41560888703 -0.252569290226 -0.0644404747027"/>
    <parent link="l_forearm"/>
    <child link="l_forearm_skin_19"/>
    <dynamics damping="0.1"/>
  </joint>
  <link name="l_forearm_skin_22"/>
  <joint name="l_forearm_skin_22_fixed_joint" type="fixed">
    <origin xyz="0.0544173950421 0.026483 0.0306037516609" rpy="-1.2658242728 -0.234328151379 -0.0937094738802"/>
    <parent link="l_forearm"/>
    <child link="l_forearm_skin_22"/>
    <dynamics damping="0.1"/>
  </joint>
  <link name="l_forearm_skin_24"/>
  <joint name="l_forearm_skin_24_fixed_joint" type="fixed">
    <origin xyz="0.0700345319564 0.007477 0.050069108714" rpy="-0.23489327644 -0.0388172993982 -0.0548291989999"/>
    <parent link="l_forearm"/>
    <child link="l_forearm_skin_24"/>
    <dynamics damping="0.1"/>
  </joint>
  <link name="l_forearm_skin_25"/>
  <joint name="l_forearm_skin_25_fixed_joint" type="fixed">
    <origin xyz="0.0535999216295 0.015984 0.0454698125045" rpy="-0.564295527715 -0.136980272197 -0.0819608256656"/>
    <parent link="l_forearm"/>
    <child link="l_forearm_skin_25"/>
    <dynamics damping="0.1"/>
  </joint>
  <link name="l_forearm_skin_28"/>
  <joint name="l_forearm_skin_28_fixed_joint" type="fixed">
    <origin xyz="0.0535859272148 -0.0196522 0.045352037397" rpy="0.579311106949 -0.133994306778 0.0867597858312"/>
    <parent link="l_forearm"/>
    <child link="l_forearm_skin_28"/>
    <dynamics damping="0.1"/>
  </joint>
  <link name="l_forearm_skin_29"/>
  <joint name="l_forearm_skin_29_fixed_joint" type="fixed">
    <origin xyz="0.0700355805031 -0.0111936 0.0500111036233" rpy="0.248630982209 -0.0383136556786 0.0583026624266"/>
    <parent link="l_forearm"/>
    <child link="l_forearm_skin_29"/>
    <dynamics damping="0.1"/>
  </joint>
  <link name="l_forearm_dh_frame"/>
  <joint name="l_forearm_dh_frame_fixed_joint" type="fixed">
    <origin xyz="0.102871102373 7.00000000002e-06 0.0275642213111" rpy="2.87979333376 0 1.57079632679"/>
    <parent link="l_forearm"/>
    <child link="l_forearm_dh_frame"/>
    <dynamics damping="0.1"/>
  </joint>
  <link name="l_wrist_1">
    <inertial>
      <origin xyz="-0.000981313804428 -0.001178 0.00408345773913" rpy="0 0 0"/>
      <mass value="0.0362152"/>
      <inertia ixx="0.01" ixy="3.08362e-08" ixz="9.42153e-07" iyy="0.01" iyz="-1.58924e-07" izz="0.01"/>
    </inertial>
    <visual>
      <origin xyz="-0.400314530555 -7.00000000009e-06 -0.105038082269" rpy="0 0 0"/>
      <geometry>
        <mesh filename="package://iCub/meshes/simmechanics/sim_sea_2-5_l_wrist_pitch_prt-binary.stl" scale="0.001 0.001 0.001"/>
      </geometry>
      <material name="dgreen">
        <color rgba="0.1 0.8 0.1 1"/>
      </material>
    </visual>
    <collision>
      <origin xyz="-0.400314530555 -7.00000000009e-06 -0.105038082269" rpy="0 0 0"/>
      <geometry>
        <mesh filename="package://iCub/meshes/simmechanics/sim_sea_2-5_l_wrist_pitch_prt-binary.stl" scale="0.001 0.001 0.001"/>
      </geometry>
    </collision>
  </link>
  <joint name="l_wrist_pitch" type="revolute">
    <origin xyz="0.103427563179 7.00000000002e-06 0.0254874807467" rpy="0 0 0"/>
    <axis xyz="0.258818979447 0.0 -0.965925843882"/>
    <parent link="l_forearm"/>
    <child link="l_wrist_1"/>
    <limit effort="50000" lower="-1.3962634016" upper="0.436332312999" velocity="50000"/>
    <dynamics damping="1.0" friction="0.0"/>
  </joint>
  <link name="l_hand">
    <inertial>
      <origin xyz="0.0647680204057 0.0056304 0.0226602208449" rpy="0 0 0"/>
      <mass value="0.247806"/>
      <inertia ixx="0.01" ixy="2.96453e-06" ixz="-3.68906e-05" iyy="0.01" iyz="2.06885e-05" izz="0.01"/>
    </inertial>
    <visual>
      <origin xyz="-0.399680424055 0.0194929 -0.107404600587" rpy="0 0 0"/>
      <geometry>
        <mesh filename="package://iCub/meshes/simmechanics/sim_sea_2-5_l_hand_prt-binary.stl" scale="0.001 0.001 0.001"/>
      </geometry>
      <material name="gray">
        <color rgba="0.5 0.5 0.5 1"/>
      </material>
    </visual>
    <collision>
      <origin xyz="-0.399680424055 0.0194929 -0.107404600587" rpy="0 0 0"/>
      <geometry>
        <mesh filename="package://iCub/meshes/simmechanics/sim_sea_2-5_l_hand_prt-binary.stl" scale="0.001 0.001 0.001"/>
      </geometry>
    </collision>
  </link>
  <joint name="l_wrist_yaw" type="revolute">
    <origin xyz="-0.000634106499644 -0.0194999 0.00236651831751" rpy="0 0 0"/>
    <axis xyz="-2.22044604925e-16 1.0 0.0"/>
    <parent link="l_wrist_1"/>
    <child link="l_hand"/>
    <limit effort="50000" lower="-0.349065850399" upper="0.436332312999" velocity="50000"/>
    <dynamics damping="1.0" friction="0.0"/>
  </joint>
  <link name="l_hand_dh_frame"/>
  <joint name="l_hand_dh_frame_fixed_joint" type="fixed">
    <origin xyz="0.0576542978428 -0.0055568 0.0136938323083" rpy="-1.57079632679 -0.261799319827 0"/>
    <parent link="l_hand"/>
    <child link="l_hand_dh_frame"/>
    <dynamics damping="0.1"/>
  </joint>
  <link name="neck_1">
    <inertial>
      <origin xyz="0.0143705608 0.006567 -0.0063842" rpy="0 0 0"/>
      <mass value="0.125793"/>
      <inertia ixx="0.01" ixy="8.09156e-08" ixz="-3.74998e-08" iyy="0.01" iyz="9.39717e-06" izz="0.01"/>
    </inertial>
    <visual>
      <origin xyz="0.0142999998093 -0.079997 -0.0295008" rpy="0 0 0"/>
      <geometry>
        <mesh filename="package://iCub/meshes/simmechanics/sim_sea_2-5_neck_1_prt-binary.stl" scale="0.001 0.001 0.001"/>
      </geometry>
      <material name="green">
        <color rgba="0 1 0 1"/>
      </material>
    </visual>
    <collision>
      <origin xyz="0.0142999998093 -0.079997 -0.0295008" rpy="0 0 0"/>
      <geometry>
        <mesh filename="package://iCub/meshes/simmechanics/sim_sea_2-5_neck_1_prt-binary.stl" scale="0.001 0.001 0.001"/>
      </geometry>
    </collision>
  </link>
  <joint name="neck_pitch" type="revolute">
    <origin xyz="-0.0142999998093 0.172797 0.0053118" rpy="0 0 0"/>
    <axis xyz="-1.0 0.0 0.0"/>
    <parent link="chest"/>
    <child link="neck_1"/>
    <limit effort="50000" lower="-0.698131700798" upper="0.383972435439" velocity="50000"/>
    <dynamics damping="1.0" friction="0.0"/>
  </joint>
  <link name="neck_2">
    <inertial>
      <origin xyz="-8.8573009265e-05 0.035225 -0.01954527" rpy="0 0 0"/>
      <mass value="0.177087"/>
      <inertia ixx="0.01" ixy="-5.25591e-07" ixz="4.68307e-07" iyy="0.01" iyz="9.81476e-06" izz="0.01"/>
    </inertial>
    <visual>
      <origin xyz="0 -0.089497 -0.05030077" rpy="0 0 0"/>
      <geometry>
        <mesh filename="package://iCub/meshes/simmechanics/sim_sea_2-5_neck_2_prt-binary.stl" scale="0.001 0.001 0.001"/>
      </geometry>
      <material name="black">
        <color rgba="0 0 0 1"/>
      </material>
    </visual>
    <collision>
      <origin xyz="0 -0.089497 -0.05030077" rpy="0 0 0"/>
      <geometry>
        <mesh filename="package://iCub/meshes/simmechanics/sim_sea_2-5_neck_2_prt-binary.stl" scale="0.001 0.001 0.001"/>
      </geometry>
    </collision>
  </link>
  <joint name="neck_roll" type="revolute">
    <origin xyz="0.0142999998093 0.0095 0.02079997" rpy="0 0 0"/>
    <axis xyz="0.0 0.0 1.0"/>
    <parent link="neck_1"/>
    <child link="neck_2"/>
    <limit effort="50000" lower="-0.349065850399" upper="0.349065850399" velocity="50000"/>
    <dynamics damping="1.0" friction="0.0"/>
  </joint>
  <link name="head">
    <inertial>
      <origin xyz="-0.000574157809265 0.113511 -0.0075392" rpy="0 0 0"/>
      <mass value="1.50691"/>
      <inertia ixx="0.00680478" ixy="-1.60267e-05" ixz="7.28166e-05" iyy="0.00634736" iyz="0.000292091" izz="0.00478116"/>
    </inertial>
    <visual>
      <origin xyz="0 -0.067153 -0.0295008" rpy="0 0 0"/>
      <geometry>
        <mesh filename="package://iCub/meshes/simmechanics/sim_sea_2-5_head_prt-binary.stl" scale="0.001 0.001 0.001"/>
      </geometry>
      <material name="red">
        <color rgba="1 0 0 1"/>
      </material>
    </visual>
    <collision>
      <origin xyz="0 -0.067153 -0.0295008" rpy="0 0 0"/>
      <geometry>
        <mesh filename="package://iCub/meshes/simmechanics/sim_sea_2-5_head_prt-binary.stl" scale="0.001 0.001 0.001"/>
      </geometry>
    </collision>
  </link>
  <joint name="neck_yaw" type="revolute">
    <origin xyz="0 -0.022344 -0.02079997" rpy="0 0 0"/>
    <axis xyz="0.0 1.0 0.0"/>
    <parent link="neck_2"/>
    <child link="head"/>
    <limit effort="50000" lower="-0.872664625997" upper="0.872664625997" velocity="50000"/>
    <dynamics damping="1.0" friction="0.0"/>
  </joint>
  <link name="imu_frame"/>
  <joint name="imu_frame_fixed_joint" type="fixed">
    <origin xyz="0.00950000019074 0.133444 0.0093" rpy="-1.57079632679 1.57079632679 0"/>
    <parent link="head"/>
    <child link="imu_frame"/>
    <dynamics damping="0.1"/>
  </joint>
<link name="base_link"/>
 <!--  <link name="base_link">
   <inertial>
     <origin xyz="0.00001 0.00001 0.00001" rpy="0 0 0"/>
     <mass value="0.00001"/>
     <inertia ixx="0.00001" ixy="0.00001" ixz="0.00001" iyy="0.00001" iyz="0" izz="0"/>
   </inertial>
   <visual>
     <origin xyz="0.00001 0.00001 0.00001" rpy="0 0 0"/>
     <geometry>
       <box size="0.2 0.1 0.05" />
     </geometry>
     <material name="blue">
       <color rgba="0 0 1 1"/>
     </material>
   </visual>
  <visual>
    <origin xyz="0.13 0.00001 0.00001" rpy="0 0 0"/>
    <geometry>
      <box size="0.04 0.04 0.04" />
    </geometry>
    <material name="red">
      <color rgba="1 0 0 1"/>
    </material>
     </visual>

    <collision>
     <origin xyz="0.00001 0.00001 0.00001" rpy="0 0 0"/>
     <geometry>
       <box size="0.2 0.1 0.05" />
     </geometry>
   </collision>
 </link>
 -->
  <joint name="base_fixed_joint" type="fixed">
  <origin xyz="0 0 0" rpy="0 0 0"/>
  <axis xyz="0 0 0"/>
  <parent link="base_link"/>
  <child link="root_link"/>
</joint>
  <link name="l_foot_dh_frame"/>
  <joint name="l_foot_dh_frame_fixed_joint" type="fixed">
  <origin xyz="0.0 0 0.004" rpy="0 1.5708 0"/>
  <axis xyz="0 0 0"/>
  <parent link="l_foot"/>
  <child link="l_foot_dh_frame"/>
</joint>
  <link name="r_foot_dh_frame"/>
  <joint name="r_foot_dh_frame_fixed_joint" type="fixed">
  <origin xyz="0.0 0 0.004" rpy="0 1.5708 0"/>
  <axis xyz="0 0 0"/>
  <parent link="r_foot"/>
  <child link="r_foot_dh_frame"/>
</joint>
  <gazebo reference="r_arm_ft_sensor">
  <disableFixedJointLumping>true</disableFixedJointLumping>
</gazebo>
  <gazebo reference="l_arm_ft_sensor">
  <disableFixedJointLumping>true</disableFixedJointLumping>
</gazebo>
  <gazebo reference="r_leg_ft_sensor">
  <disableFixedJointLumping>true</disableFixedJointLumping>
</gazebo>
  <gazebo reference="l_leg_ft_sensor">
  <disableFixedJointLumping>true</disableFixedJointLumping>
</gazebo>
  <gazebo reference="r_foot_ft_sensor">
  <disableFixedJointLumping>true</disableFixedJointLumping>
</gazebo>
  <gazebo reference="l_foot_ft_sensor">
  <disableFixedJointLumping>true</disableFixedJointLumping>
</gazebo>
  <gazebo reference="l_foot">
  <collision> <surface> <bounce>
    <restitution_coefficient>0</restitution_coefficient>
    <threshold>100000</threshold>
  </bounce> </surface> </collision>
  <maxContacts>4</maxContacts>
  <kp>18000000</kp>
  <kd>100</kd>
  <maxVel>100</maxVel>
  <minDepth>0.0001</minDepth>
  <mu1>1</mu1>
  <mu2>1</mu2>
  <fdir1>0 0 0</fdir1>
</gazebo>
  <gazebo reference="r_foot">
  <collision> <surface> <bounce>
    <restitution_coefficient>0</restitution_coefficient>
    <threshold>100000</threshold>
  </bounce> </surface> </collision>
  <maxContacts>4</maxContacts>
  <kp>18000000</kp>
  <kd>100</kd>
  <maxVel>100</maxVel>
  <minDepth>0.0001</minDepth>
  <mu1>1</mu1>
  <mu2>1</mu2>
  <fdir1>0 0 0</fdir1>
</gazebo>
  <gazebo>
<plugin name="iCub_yarp_gazebo_plugin_ACCpart" filename="libgazebo_yarp_distributedinertials.so">
  <yarpConfigurationFile>model://iCub/conf/MTB/gazebo_icub_left_leg_mtb.ini</yarpConfigurationFile>
</plugin>
<plugin name="iCub_yarp_gazebo_plugin_ACCpart" filename="libgazebo_yarp_distributedinertials.so">
  <yarpConfigurationFile>model://iCub/conf/MTB/gazebo_icub_right_leg_mtb.ini</yarpConfigurationFile>
</plugin>
<plugin name="iCub_yarp_gazebo_plugin_ACCpart" filename="libgazebo_yarp_distributedinertials.so">
  <yarpConfigurationFile>model://iCub/conf/MTB/gazebo_icub_left_arm_mtb.ini</yarpConfigurationFile>
</plugin>
<plugin name="iCub_yarp_gazebo_plugin_ACCpart" filename="libgazebo_yarp_distributedinertials.so">
  <yarpConfigurationFile>model://iCub/conf/MTB/gazebo_icub_right_arm_mtb.ini</yarpConfigurationFile>
</plugin>
<plugin name="iCub_yarp_gazebo_plugin_ACCpart" filename="libgazebo_yarp_distributedinertials.so">
  <yarpConfigurationFile>model://iCub/conf/MTB/gazebo_icub_torso_mtb.ini</yarpConfigurationFile>
</plugin>
<plugin name="controlboard_torso" filename="libgazebo_yarp_controlboard.so">
  <yarpConfigurationFile>model://iCub/conf/gazebo_icub_torso.ini</yarpConfigurationFile>
</plugin>
<plugin name="controlboard_head_without_eyes" filename="libgazebo_yarp_controlboard.so">
  <yarpConfigurationFile>model://iCub/conf/gazebo_icub_head_without_eyes.ini</yarpConfigurationFile>
</plugin>
<plugin name="controlboard_left_arm_no_hand" filename="libgazebo_yarp_controlboard.so">
  <yarpConfigurationFile>model://iCub/conf/gazebo_icub_left_arm_no_hand_for_no_hand_model.ini</yarpConfigurationFile>
  <initialConfiguration>-0.52 0.52 0 0.785 0 0 0.0</initialConfiguration>
</plugin>
<plugin name="controlboard_right_arm_no_hand" filename="libgazebo_yarp_controlboard.so">
  <yarpConfigurationFile>model://iCub/conf/gazebo_icub_right_arm_no_hand_for_no_hand_model.ini</yarpConfigurationFile>
  <initialConfiguration>-0.52 0.52 0 0.785 0 0 0.0</initialConfiguration>
</plugin>
<plugin name="controlboard_right_leg" filename="libgazebo_yarp_controlboard.so">
  <yarpConfigurationFile>model://iCub/conf/gazebo_icub_right_leg.ini</yarpConfigurationFile>
</plugin>
<plugin name="controlboard_left_leg" filename="libgazebo_yarp_controlboard.so">
  <yarpConfigurationFile>model://iCub/conf/gazebo_icub_left_leg.ini</yarpConfigurationFile>
</plugin>
<plugin name="apply_external_wrench" filename="libgazebo_yarp_externalwrench.so">
  <robotNamefromConfigFile>model://iCub/conf/gazebo_icub_robotname.ini</robotNamefromConfigFile>
</plugin>
</gazebo>
  <gazebo reference="r_hip_pitch">
   <implicitSpringDamper>1</implicitSpringDamper>
</gazebo>
  <gazebo reference="r_hip_roll">
   <implicitSpringDamper>1</implicitSpringDamper>
</gazebo>
  <gazebo reference="r_hip_yaw">
   <implicitSpringDamper>1</implicitSpringDamper>
</gazebo>
  <gazebo reference="r_knee">
   <implicitSpringDamper>1</implicitSpringDamper>
</gazebo>
  <gazebo reference="r_ankle_pitch">
   <implicitSpringDamper>1</implicitSpringDamper>
</gazebo>
  <gazebo reference="r_ankle_roll">
   <implicitSpringDamper>1</implicitSpringDamper>
</gazebo>
  <gazebo reference="l_hip_pitch">
   <implicitSpringDamper>1</implicitSpringDamper>
</gazebo>
  <gazebo reference="l_hip_roll">
   <implicitSpringDamper>1</implicitSpringDamper>
</gazebo>
  <gazebo reference="l_hip_yaw">
   <implicitSpringDamper>1</implicitSpringDamper>
</gazebo>
  <gazebo reference="l_knee">
   <implicitSpringDamper>1</implicitSpringDamper>
</gazebo>
  <gazebo reference="l_ankle_pitch">
   <implicitSpringDamper>1</implicitSpringDamper>
</gazebo>
  <gazebo reference="l_ankle_roll">
   <implicitSpringDamper>1</implicitSpringDamper>
</gazebo>
  <gazebo reference="torso_pitch">
   <implicitSpringDamper>1</implicitSpringDamper>
</gazebo>
  <gazebo reference="torso_roll">
   <implicitSpringDamper>1</implicitSpringDamper>
</gazebo>
  <gazebo reference="torso_yaw">
   <implicitSpringDamper>1</implicitSpringDamper>
</gazebo>
  <gazebo reference="r_shoulder_pitch">
   <implicitSpringDamper>1</implicitSpringDamper>
</gazebo>
  <gazebo reference="r_shoulder_roll">
   <implicitSpringDamper>1</implicitSpringDamper>
</gazebo>
  <gazebo reference="r_shoulder_yaw">
   <implicitSpringDamper>1</implicitSpringDamper>
</gazebo>
  <gazebo reference="r_elbow">
   <implicitSpringDamper>1</implicitSpringDamper>
</gazebo>
  <gazebo reference="r_wrist_prosup">
   <implicitSpringDamper>1</implicitSpringDamper>
</gazebo>
  <gazebo reference="r_wrist_pitch">
   <implicitSpringDamper>1</implicitSpringDamper>
</gazebo>
  <gazebo reference="r_wrist_yaw">
   <implicitSpringDamper>1</implicitSpringDamper>
</gazebo>
  <gazebo reference="l_shoulder_pitch">
   <implicitSpringDamper>1</implicitSpringDamper>
</gazebo>
  <gazebo reference="l_shoulder_roll">
   <implicitSpringDamper>1</implicitSpringDamper>
</gazebo>
  <gazebo reference="l_shoulder_yaw">
   <implicitSpringDamper>1</implicitSpringDamper>
</gazebo>
  <gazebo reference="l_elbow">
   <implicitSpringDamper>1</implicitSpringDamper>
</gazebo>
  <gazebo reference="l_wrist_prosup">
   <implicitSpringDamper>1</implicitSpringDamper>
</gazebo>
  <gazebo reference="l_wrist_pitch">
   <implicitSpringDamper>1</implicitSpringDamper>
</gazebo>
  <gazebo reference="l_wrist_yaw">
   <implicitSpringDamper>1</implicitSpringDamper>
</gazebo>
  <gazebo reference="neck_pitch">
   <implicitSpringDamper>1</implicitSpringDamper>
</gazebo>
  <gazebo reference="neck_roll">
   <implicitSpringDamper>1</implicitSpringDamper>
</gazebo>
  <gazebo reference="neck_yaw">
   <implicitSpringDamper>1</implicitSpringDamper>
</gazebo>
  <gazebo reference="l_leg_ft_sensor">
    <sensor name="l_leg_ft_sensor" type="force_torque">
      <always_on>1</always_on>
      <update_rate>100</update_rate>
      <force_torque>
        <frame>child</frame>
        <measure_direction>child_to_parent</measure_direction>
      </force_torque>
      <plugin name="left_leg_ft_plugin" filename="libgazebo_yarp_forcetorque.so">
  <yarpConfigurationFile>model://iCub/conf/FT/gazebo_icub_left_leg_ft.ini</yarpConfigurationFile>
</plugin>
    </sensor>
  </gazebo>
  <sensor name="l_leg_ft_sensor" type="force_torque">
    <parent joint="l_leg_ft_sensor"/>
    <force_torque>
      <frame>child</frame>
      <measure_direction>child_to_parent</measure_direction>
    </force_torque>
  </sensor>
  <gazebo reference="r_leg_ft_sensor">
    <sensor name="r_leg_ft_sensor" type="force_torque">
      <always_on>1</always_on>
      <update_rate>100</update_rate>
      <force_torque>
        <frame>child</frame>
        <measure_direction>child_to_parent</measure_direction>
      </force_torque>
      <plugin name="right_leg_ft_plugin" filename="libgazebo_yarp_forcetorque.so">
  <yarpConfigurationFile>model://iCub/conf/FT/gazebo_icub_right_leg_ft.ini</yarpConfigurationFile>
</plugin>
    </sensor>
  </gazebo>
  <sensor name="r_leg_ft_sensor" type="force_torque">
    <parent joint="r_leg_ft_sensor"/>
    <force_torque>
      <frame>child</frame>
      <measure_direction>child_to_parent</measure_direction>
    </force_torque>
  </sensor>
  <gazebo reference="l_foot_ft_sensor">
    <sensor name="l_foot_ft_sensor" type="force_torque">
      <always_on>1</always_on>
      <update_rate>100</update_rate>
      <force_torque>
        <frame>child</frame>
        <measure_direction>child_to_parent</measure_direction>
      </force_torque>
      <plugin name="left_foot_ft_plugin" filename="libgazebo_yarp_forcetorque.so">
  <yarpConfigurationFile>model://iCub/conf/FT/gazebo_icub_left_foot_ft.ini</yarpConfigurationFile>
</plugin>
    </sensor>
  </gazebo>
  <sensor name="l_foot_ft_sensor" type="force_torque">
    <parent joint="l_foot_ft_sensor"/>
    <force_torque>
      <frame>child</frame>
      <measure_direction>child_to_parent</measure_direction>
    </force_torque>
  </sensor>
  <gazebo reference="r_foot_ft_sensor">
    <sensor name="r_foot_ft_sensor" type="force_torque">
      <always_on>1</always_on>
      <update_rate>100</update_rate>
      <force_torque>
        <frame>child</frame>
        <measure_direction>child_to_parent</measure_direction>
      </force_torque>
      <plugin name="right_foot_ft_plugin" filename="libgazebo_yarp_forcetorque.so">
  <yarpConfigurationFile>model://iCub/conf/FT/gazebo_icub_right_foot_ft.ini</yarpConfigurationFile>
</plugin>
    </sensor>
  </gazebo>
  <sensor name="r_foot_ft_sensor" type="force_torque">
    <parent joint="r_foot_ft_sensor"/>
    <force_torque>
      <frame>child</frame>
      <measure_direction>child_to_parent</measure_direction>
    </force_torque>
  </sensor>
  <gazebo reference="l_arm_ft_sensor">
    <sensor name="l_arm_ft_sensor" type="force_torque">
      <always_on>1</always_on>
      <update_rate>100</update_rate>
      <force_torque>
        <frame>child</frame>
        <measure_direction>child_to_parent</measure_direction>
      </force_torque>
      <plugin name="left_arm_ft_plugin" filename="libgazebo_yarp_forcetorque.so">
  <yarpConfigurationFile>model://iCub/conf/FT/gazebo_icub_left_arm_ft.ini</yarpConfigurationFile>
</plugin>
    </sensor>
  </gazebo>
  <sensor name="l_arm_ft_sensor" type="force_torque">
    <parent joint="l_arm_ft_sensor"/>
    <force_torque>
      <frame>child</frame>
      <measure_direction>child_to_parent</measure_direction>
    </force_torque>
  </sensor>
  <gazebo reference="r_arm_ft_sensor">
    <sensor name="r_arm_ft_sensor" type="force_torque">
      <always_on>1</always_on>
      <update_rate>100</update_rate>
      <force_torque>
        <frame>child</frame>
        <measure_direction>child_to_parent</measure_direction>
      </force_torque>
      <plugin name="right_arm_ft_plugin" filename="libgazebo_yarp_forcetorque.so">
  <yarpConfigurationFile>model://iCub/conf/FT/gazebo_icub_right_arm_ft.ini</yarpConfigurationFile>
</plugin>
    </sensor>
  </gazebo>
  <sensor name="r_arm_ft_sensor" type="force_torque">
    <parent joint="r_arm_ft_sensor"/>
    <force_torque>
      <frame>child</frame>
      <measure_direction>child_to_parent</measure_direction>
    </force_torque>
  </sensor>
  <gazebo reference="head">
    <sensor name="head_imu_acc_1x1" type="imu">
      <always_on>1</always_on>
      <update_rate>100</update_rate>
      <pose>0.00950000019074 0.133444 0.0093 -1.57079632679 1.57079632679 0.0</pose>
      <plugin name="iCub_yarp_gazebo_plugin_IMU" filename="libgazebo_yarp_imu.so">
    <yarpConfigurationFile>model://iCub/conf/gazebo_icub_inertial.ini</yarpConfigurationFile>
</plugin>
    </sensor>
  </gazebo>
  <sensor name="head_imu_acc_1x1" type="accelerometer">
    <parent link="head"/>
    <origin rpy="-1.57079632679 1.57079632679 0.0" xyz="0.00950000019074 0.133444 0.0093"/>
  </sensor>
  <gazebo reference="root_link">
    <sensor name="root_link_ems_acc_eb5" type="imu">
      <always_on>1</always_on>
      <update_rate>100</update_rate>
      <pose>0.0493308 -0.0125771 -0.115691 -3.14159265359 1.29154404503 3.14159265359</pose>
      <plugin name="iCub_yarp_gazebo_plugin_ACC" filename="libgazebo_yarp_inertial.so"/>
    </sensor>
  </gazebo>
  <sensor name="root_link_ems_acc_eb5" type="accelerometer">
    <parent link="root_link"/>
    <origin rpy="-3.14159265359 1.29154404503 3.14159265359" xyz="0.0493308 -0.0125771 -0.115691"/>
  </sensor>
  <gazebo reference="root_link">
    <sensor name="root_link_ems_gyro_eb5" type="imu">
      <always_on>1</always_on>
      <update_rate>100</update_rate>
      <pose>0.0493308 -0.0125771 -0.115691 -3.14159265359 1.29154404503 3.14159265359</pose>
    </sensor>
  </gazebo>
  <sensor name="root_link_ems_gyro_eb5" type="gyroscope">
    <parent link="root_link"/>
    <origin rpy="-3.14159265359 1.29154404503 3.14159265359" xyz="0.0493308 -0.0125771 -0.115691"/>
  </sensor>
  <gazebo reference="chest">
    <sensor name="chest_ems_acc_eb1" type="imu">
      <always_on>1</always_on>
      <update_rate>100</update_rate>
      <pose>0.0647855001907 0.064043 -0.0647091 3.1415169123 -0.261799309122 0.000292641880255</pose>
      <plugin name="iCub_yarp_gazebo_plugin_ACC" filename="libgazebo_yarp_inertial.so"/>
    </sensor>
  </gazebo>
  <sensor name="chest_ems_acc_eb1" type="accelerometer">
    <parent link="chest"/>
    <origin rpy="3.1415169123 -0.261799309122 0.000292641880255" xyz="0.0647855001907 0.064043 -0.0647091"/>
  </sensor>
  <gazebo reference="chest">
    <sensor name="chest_ems_gyro_eb1" type="imu">
      <always_on>1</always_on>
      <update_rate>100</update_rate>
      <pose>0.0692016001907 0.064548 -0.0635258 3.1415169123 -0.261799309122 0.000292641880255</pose>
    </sensor>
  </gazebo>
  <sensor name="chest_ems_gyro_eb1" type="gyroscope">
    <parent link="chest"/>
    <origin rpy="3.1415169123 -0.261799309122 0.000292641880255" xyz="0.0692016001907 0.064548 -0.0635258"/>
  </sensor>
  <gazebo reference="chest">
    <sensor name="chest_ems_acc_eb2" type="imu">
      <always_on>1</always_on>
      <update_rate>100</update_rate>
      <pose>0.0204533001907 0.088063 -0.0641645 3.14159050104 0.261799319819 3.14158433678</pose>
      <plugin name="iCub_yarp_gazebo_plugin_ACC" filename="libgazebo_yarp_inertial.so"/>
    </sensor>
  </gazebo>
  <sensor name="chest_ems_acc_eb2" type="accelerometer">
    <parent link="chest"/>
    <origin rpy="3.14159050104 0.261799319819 3.14158433678" xyz="0.0204533001907 0.088063 -0.0641645"/>
  </sensor>
  <gazebo reference="chest">
    <sensor name="chest_ems_gyro_eb2" type="imu">
      <always_on>1</always_on>
      <update_rate>100</update_rate>
      <pose>0.0160371001907 0.087559 -0.0653479 3.14159050104 0.261799319819 3.14158433678</pose>
    </sensor>
  </gazebo>
  <sensor name="chest_ems_gyro_eb2" type="gyroscope">
    <parent link="chest"/>
    <origin rpy="3.14159050104 0.261799319819 3.14158433678" xyz="0.0160371001907 0.087559 -0.0653479"/>
  </sensor>
  <gazebo reference="chest">
    <sensor name="chest_ems_acc_eb3" type="imu">
      <always_on>1</always_on>
      <update_rate>100</update_rate>
      <pose>-0.0230587998093 0.064019 -0.0758985 3.14110916203 0.261100516471 -0.000309071462555</pose>
      <plugin name="iCub_yarp_gazebo_plugin_ACC" filename="libgazebo_yarp_inertial.so"/>
    </sensor>
  </gazebo>
  <sensor name="chest_ems_acc_eb3" type="accelerometer">
    <parent link="chest"/>
    <origin rpy="3.14110916203 0.261100516471 -0.000309071462555" xyz="-0.0230587998093 0.064019 -0.0758985"/>
  </sensor>
  <gazebo reference="chest">
    <sensor name="chest_ems_gyro_eb3" type="imu">
      <always_on>1</always_on>
      <update_rate>100</update_rate>
      <pose>-0.0186416998093 0.064521 -0.0770785 3.14110916203 0.261100516471 -0.000309071462555</pose>
    </sensor>
  </gazebo>
  <sensor name="chest_ems_gyro_eb3" type="gyroscope">
    <parent link="chest"/>
    <origin rpy="3.14110916203 0.261100516471 -0.000309071462555" xyz="-0.0186416998093 0.064521 -0.0770785"/>
  </sensor>
  <gazebo reference="chest">
    <sensor name="chest_ems_acc_eb4" type="imu">
      <always_on>1</always_on>
      <update_rate>100</update_rate>
      <pose>-0.0621620998093 0.088063 -0.0529887 -3.14159050476 -0.261799319819 3.14158433987</pose>
      <plugin name="iCub_yarp_gazebo_plugin_ACC" filename="libgazebo_yarp_inertial.so"/>
    </sensor>
  </gazebo>
  <sensor name="chest_ems_acc_eb4" type="accelerometer">
    <parent link="chest"/>
    <origin rpy="-3.14159050476 -0.261799319819 3.14158433987" xyz="-0.0621620998093 0.088063 -0.0529887"/>
  </sensor>
  <gazebo reference="chest">
    <sensor name="chest_ems_gyro_eb4" type="imu">
      <always_on>1</always_on>
      <update_rate>100</update_rate>
      <pose>-0.0665783998093 0.087559 -0.0518054 -3.14159050476 -0.261799319819 3.14158433987</pose>
    </sensor>
  </gazebo>
  <sensor name="chest_ems_gyro_eb4" type="gyroscope">
    <parent link="chest"/>
    <origin rpy="-3.14159050476 -0.261799319819 3.14158433987" xyz="-0.0665783998093 0.087559 -0.0518054"/>
  </sensor>
  <gazebo reference="chest">
    <sensor name="chest_mtb_acc_0b7" type="imu">
      <always_on>1</always_on>
      <update_rate>100</update_rate>
      <pose>-0.0607539998093 -0.0017836 0.0442341 0.875167771492 0.116363734392 -1.48597350247</pose>
      <plugin name="iCub_yarp_gazebo_plugin_ACC" filename="libgazebo_yarp_inertial.so"/>
    </sensor>
  </gazebo>
  <sensor name="chest_mtb_acc_0b7" type="accelerometer">
    <parent link="chest"/>
    <origin rpy="0.875167771492 0.116363734392 -1.48597350247" xyz="-0.0607539998093 -0.0017836 0.0442341"/>
  </sensor>
  <gazebo reference="chest">
    <sensor name="chest_mtb_acc_0b8" type="imu">
      <always_on>1</always_on>
      <update_rate>100</update_rate>
      <pose>-0.0457046998093 -0.001846 0.0567427 0.500960084689 0.107313688983 -1.4778325291</pose>
      <plugin name="iCub_yarp_gazebo_plugin_ACC" filename="libgazebo_yarp_inertial.so"/>
    </sensor>
  </gazebo>
  <sensor name="chest_mtb_acc_0b8" type="accelerometer">
    <parent link="chest"/>
    <origin rpy="0.500960084689 0.107313688983 -1.4778325291" xyz="-0.0457046998093 -0.001846 0.0567427"/>
  </sensor>
  <gazebo reference="chest">
    <sensor name="chest_mtb_acc_0b9" type="imu">
      <always_on>1</always_on>
      <update_rate>100</update_rate>
      <pose>0.0439036001907 -0.0017841 0.0577221 -0.500959928973 0.107315404248 -1.66376017469</pose>
      <plugin name="iCub_yarp_gazebo_plugin_ACC" filename="libgazebo_yarp_inertial.so"/>
    </sensor>
  </gazebo>
  <sensor name="chest_mtb_acc_0b9" type="accelerometer">
    <parent link="chest"/>
    <origin rpy="-0.500959928973 0.107315404248 -1.66376017469" xyz="0.0439036001907 -0.0017841 0.0577221"/>
  </sensor>
  <gazebo reference="chest">
    <sensor name="chest_mtb_acc_0b10" type="imu">
      <always_on>1</always_on>
      <update_rate>100</update_rate>
      <pose>0.0594286001907 -0.0018543 0.0457981 -0.875168153475 0.116362025479 -1.65561807505</pose>
      <plugin name="iCub_yarp_gazebo_plugin_ACC" filename="libgazebo_yarp_inertial.so"/>
    </sensor>
  </gazebo>
  <sensor name="chest_mtb_acc_0b10" type="accelerometer">
    <parent link="chest"/>
    <origin rpy="-0.875168153475 0.116362025479 -1.65561807505" xyz="0.0594286001907 -0.0018543 0.0457981"/>
  </sensor>
  <gazebo reference="r_upper_arm">
    <sensor name="r_upper_arm_mtb_acc_2b10" type="imu">
      <always_on>1</always_on>
      <update_rate>100</update_rate>
      <pose>-0.0412194 0.029588 0.0295279 1.57079546365 1.57078381225 -2.68257161165</pose>
      <plugin name="iCub_yarp_gazebo_plugin_ACC" filename="libgazebo_yarp_inertial.so"/>
    </sensor>
  </gazebo>
  <sensor name="r_upper_arm_mtb_acc_2b10" type="accelerometer">
    <parent link="r_upper_arm"/>
    <origin rpy="1.57079546365 1.57078381225 -2.68257161165" xyz="-0.0412194 0.029588 0.0295279"/>
  </sensor>
  <gazebo reference="r_upper_arm">
    <sensor name="r_upper_arm_mtb_acc_2b11" type="imu">
      <always_on>1</always_on>
      <update_rate>100</update_rate>
      <pose>-0.0430568 0.02868 0.0760604 -1.57079614695 -1.57050350741 0.459021725219</pose>
      <plugin name="iCub_yarp_gazebo_plugin_ACC" filename="libgazebo_yarp_inertial.so"/>
    </sensor>
  </gazebo>
  <sensor name="r_upper_arm_mtb_acc_2b11" type="accelerometer">
    <parent link="r_upper_arm"/>
    <origin rpy="-1.57079614695 -1.57050350741 0.459021725219" xyz="-0.0430568 0.02868 0.0760604"/>
  </sensor>
  <gazebo reference="r_upper_arm">
    <sensor name="r_upper_arm_mtb_acc_2b12" type="imu">
      <always_on>1</always_on>
      <update_rate>100</update_rate>
      <pose>-0.0430554 0.028681 0.0049922 -1.11177442168 -1.57079632679 0.0</pose>
      <plugin name="iCub_yarp_gazebo_plugin_ACC" filename="libgazebo_yarp_inertial.so"/>
    </sensor>
  </gazebo>
  <sensor name="r_upper_arm_mtb_acc_2b12" type="accelerometer">
    <parent link="r_upper_arm"/>
    <origin rpy="-1.11177442168 -1.57079632679 0.0" xyz="-0.0430554 0.028681 0.0049922"/>
  </sensor>
  <gazebo reference="r_upper_arm">
    <sensor name="r_upper_arm_mtb_acc_2b13" type="imu">
      <always_on>1</always_on>
      <update_rate>100</update_rate>
      <pose>0.010593237 0.02835 -0.010738 1.57079632702 -0.000214520362041 2.47803674451</pose>
      <plugin name="iCub_yarp_gazebo_plugin_ACC" filename="libgazebo_yarp_inertial.so"/>
    </sensor>
  </gazebo>
  <sensor name="r_upper_arm_mtb_acc_2b13" type="accelerometer">
    <parent link="r_upper_arm"/>
    <origin rpy="1.57079632702 -0.000214520362041 2.47803674451" xyz="0.010593237 0.02835 -0.010738"/>
  </sensor>
  <gazebo reference="r_forearm">
    <sensor name="r_forearm_mtb_acc_2b7" type="imu">
      <always_on>1</always_on>
      <update_rate>100</update_rate>
      <pose>-0.0768727847342 0.005497 -0.0110479126068 0.26179949998 0.000370413042328 1.57125816863</pose>
      <plugin name="iCub_yarp_gazebo_plugin_ACC" filename="libgazebo_yarp_inertial.so"/>
    </sensor>
  </gazebo>
  <sensor name="r_forearm_mtb_acc_2b7" type="accelerometer">
    <parent link="r_forearm"/>
    <origin rpy="0.26179949998 0.000370413042328 1.57125816863" xyz="-0.0768727847342 0.005497 -0.0110479126068"/>
  </sensor>
  <gazebo reference="r_forearm">
    <sensor name="r_forearm_mtb_acc_2b8" type="imu">
      <always_on>1</always_on>
      <update_rate>100</update_rate>
      <pose>-0.0514186150796 0.015786 0.0407521537277 -0.661143946092 0.147825248461 0.092070114703</pose>
      <plugin name="iCub_yarp_gazebo_plugin_ACC" filename="libgazebo_yarp_inertial.so"/>
    </sensor>
  </gazebo>
  <sensor name="r_forearm_mtb_acc_2b8" type="accelerometer">
    <parent link="r_forearm"/>
    <origin rpy="-0.661143946092 0.147825248461 0.092070114703" xyz="-0.0514186150796 0.015786 0.0407521537277"/>
  </sensor>
  <gazebo reference="r_forearm">
    <sensor name="r_forearm_mtb_acc_2b9" type="imu">
      <always_on>1</always_on>
      <update_rate>100</update_rate>
      <pose>-0.0216379956759 0.027924 -0.0132490254018 -1.76682626732 0.261191225646 0.054048344372</pose>
      <plugin name="iCub_yarp_gazebo_plugin_ACC" filename="libgazebo_yarp_inertial.so"/>
    </sensor>
  </gazebo>
  <sensor name="r_forearm_mtb_acc_2b9" type="accelerometer">
    <parent link="r_forearm"/>
    <origin rpy="-1.76682626732 0.261191225646 0.054048344372" xyz="-0.0216379956759 0.027924 -0.0132490254018"/>
  </sensor>
  <gazebo reference="l_upper_arm">
    <sensor name="l_upper_arm_mtb_acc_1b10" type="imu">
      <always_on>1</always_on>
      <update_rate>100</update_rate>
      <pose>-0.0430554 -0.028681 0.0295279 -1.57079650664 -1.57050350741 2.68257092837</pose>
      <plugin name="iCub_yarp_gazebo_plugin_ACC" filename="libgazebo_yarp_inertial.so"/>
    </sensor>
  </gazebo>
  <sensor name="l_upper_arm_mtb_acc_1b10" type="accelerometer">
    <parent link="l_upper_arm"/>
    <origin rpy="-1.57079650664 -1.57050350741 2.68257092837" xyz="-0.0430554 -0.028681 0.0295279"/>
  </sensor>
  <gazebo reference="l_upper_arm">
    <sensor name="l_upper_arm_mtb_acc_1b11" type="imu">
      <always_on>1</always_on>
      <update_rate>100</update_rate>
      <pose>-0.0412181 -0.029589 0.0760604 -1.57079650664 -1.57050350741 2.68257092837</pose>
      <plugin name="iCub_yarp_gazebo_plugin_ACC" filename="libgazebo_yarp_inertial.so"/>
    </sensor>
  </gazebo>
  <sensor name="l_upper_arm_mtb_acc_1b11" type="accelerometer">
    <parent link="l_upper_arm"/>
    <origin rpy="-1.57079650664 -1.57050350741 2.68257092837" xyz="-0.0412181 -0.029589 0.0760604"/>
  </sensor>
  <gazebo reference="l_upper_arm">
    <sensor name="l_upper_arm_mtb_acc_1b12" type="imu">
      <always_on>1</always_on>
      <update_rate>100</update_rate>
      <pose>-0.0412194 -0.029588 0.0049921 -1.5707971899 -1.57078381225 2.68257161159</pose>
      <plugin name="iCub_yarp_gazebo_plugin_ACC" filename="libgazebo_yarp_inertial.so"/>
    </sensor>
  </gazebo>
  <sensor name="l_upper_arm_mtb_acc_1b12" type="accelerometer">
    <parent link="l_upper_arm"/>
    <origin rpy="-1.5707971899 -1.57078381225 2.68257161159" xyz="-0.0412194 -0.029588 0.0049921"/>
  </sensor>
  <gazebo reference="l_upper_arm">
    <sensor name="l_upper_arm_mtb_acc_1b13" type="imu">
      <always_on>1</always_on>
      <update_rate>100</update_rate>
      <pose>0.010592709 -0.028351 -0.0086914 -1.57079632657 0.000214520362042 -2.47803674451</pose>
      <plugin name="iCub_yarp_gazebo_plugin_ACC" filename="libgazebo_yarp_inertial.so"/>
    </sensor>
  </gazebo>
  <sensor name="l_upper_arm_mtb_acc_1b13" type="accelerometer">
    <parent link="l_upper_arm"/>
    <origin rpy="-1.57079632657 0.000214520362042 -2.47803674451" xyz="0.010592709 -0.028351 -0.0086914"/>
  </sensor>
  <gazebo reference="l_forearm">
    <sensor name="l_forearm_mtb_acc_1b7" type="imu">
      <always_on>1</always_on>
      <update_rate>100</update_rate>
      <pose>0.0768727847342 -0.005483 -0.0110479126068 0.26179949998 0.000370413042328 -1.57033448496</pose>
      <plugin name="iCub_yarp_gazebo_plugin_ACC" filename="libgazebo_yarp_inertial.so"/>
    </sensor>
  </gazebo>
  <sensor name="l_forearm_mtb_acc_1b7" type="accelerometer">
    <parent link="l_forearm"/>
    <origin rpy="0.26179949998 0.000370413042328 -1.57033448496" xyz="0.0768727847342 -0.005483 -0.0110479126068"/>
  </sensor>
  <gazebo reference="l_forearm">
    <sensor name="l_forearm_mtb_acc_1b8" type="imu">
      <always_on>1</always_on>
      <update_rate>100</update_rate>
      <pose>0.0514241740607 -0.0180279 0.0407507258436 -0.661143946092 0.147825248461 -3.04952253889</pose>
      <plugin name="iCub_yarp_gazebo_plugin_ACC" filename="libgazebo_yarp_inertial.so"/>
    </sensor>
  </gazebo>
  <sensor name="l_forearm_mtb_acc_1b8" type="accelerometer">
    <parent link="l_forearm"/>
    <origin rpy="-0.661143946092 0.147825248461 -3.04952253889" xyz="0.0514241740607 -0.0180279 0.0407507258436"/>
  </sensor>
  <gazebo reference="l_forearm">
    <sensor name="l_forearm_mtb_acc_1b9" type="imu">
      <always_on>1</always_on>
      <update_rate>100</update_rate>
      <pose>0.0220991874996 0.025657 -0.0151174243212 1.76682134218 0.261099829847 3.08752548202</pose>
      <plugin name="iCub_yarp_gazebo_plugin_ACC" filename="libgazebo_yarp_inertial.so"/>
    </sensor>
  </gazebo>
  <sensor name="l_forearm_mtb_acc_1b9" type="accelerometer">
    <parent link="l_forearm"/>
    <origin rpy="1.76682134218 0.261099829847 3.08752548202" xyz="0.0220991874996 0.025657 -0.0151174243212"/>
  </sensor>
  <gazebo reference="r_upper_leg">
    <sensor name="r_upper_leg_ems_acc_eb8" type="imu">
      <always_on>1</always_on>
      <update_rate>100</update_rate>
      <pose>-0.0125751 0.0404072 -0.040227 1.57079632679 1.57079632679 0.0</pose>
      <plugin name="iCub_yarp_gazebo_plugin_ACC" filename="libgazebo_yarp_inertial.so"/>
    </sensor>
  </gazebo>
  <sensor name="r_upper_leg_ems_acc_eb8" type="accelerometer">
    <parent link="r_upper_leg"/>
    <origin rpy="1.57079632679 1.57079632679 0.0" xyz="-0.0125751 0.0404072 -0.040227"/>
  </sensor>
  <gazebo reference="r_upper_leg">
    <sensor name="r_upper_leg_ems_acc_eb11" type="imu">
      <always_on>1</always_on>
      <update_rate>100</update_rate>
      <pose>-0.0125771 -0.040407 -0.083407 1.57079632679 1.57079632679 0.0</pose>
      <plugin name="iCub_yarp_gazebo_plugin_ACC" filename="libgazebo_yarp_inertial.so"/>
    </sensor>
  </gazebo>
  <sensor name="r_upper_leg_ems_acc_eb11" type="accelerometer">
    <parent link="r_upper_leg"/>
    <origin rpy="1.57079632679 1.57079632679 0.0" xyz="-0.0125771 -0.040407 -0.083407"/>
  </sensor>
  <gazebo reference="r_upper_leg">
    <sensor name="r_upper_leg_ems_gyro_eb8" type="imu">
      <always_on>1</always_on>
      <update_rate>100</update_rate>
      <pose>-0.013079 0.0404072 -0.035655 1.57079632679 1.57079632679 0.0</pose>
    </sensor>
  </gazebo>
  <sensor name="r_upper_leg_ems_gyro_eb8" type="gyroscope">
    <parent link="r_upper_leg"/>
    <origin rpy="1.57079632679 1.57079632679 0.0" xyz="-0.013079 0.0404072 -0.035655"/>
  </sensor>
  <gazebo reference="r_upper_leg">
    <sensor name="r_upper_leg_ems_gyro_eb11" type="imu">
      <always_on>1</always_on>
      <update_rate>100</update_rate>
      <pose>-0.013081 -0.040407 -0.087979 1.57079632679 1.57079632679 0.0</pose>
    </sensor>
  </gazebo>
  <sensor name="r_upper_leg_ems_gyro_eb11" type="gyroscope">
    <parent link="r_upper_leg"/>
    <origin rpy="1.57079632679 1.57079632679 0.0" xyz="-0.013081 -0.040407 -0.087979"/>
  </sensor>
  <gazebo reference="r_upper_leg">
    <sensor name="r_upper_leg_mtb_acc_11b1" type="imu">
      <always_on>1</always_on>
      <update_rate>100</update_rate>
      <pose>0.043588612 -0.030195 0.04894 2.52670843803 -1.57044484253 -0.22287382498</pose>
      <plugin name="iCub_yarp_gazebo_plugin_ACC" filename="libgazebo_yarp_inertial.so"/>
    </sensor>
  </gazebo>
  <sensor name="r_upper_leg_mtb_acc_11b1" type="accelerometer">
    <parent link="r_upper_leg"/>
    <origin rpy="2.52670843803 -1.57044484253 -0.22287382498" xyz="0.043588612 -0.030195 0.04894"/>
  </sensor>
  <gazebo reference="r_upper_leg">
    <sensor name="r_upper_leg_mtb_acc_11b2" type="imu">
      <always_on>1</always_on>
      <update_rate>100</update_rate>
      <pose>0.0539467 -0.0064065 0.039056 -3.12940212057 -1.57038181496 -0.273989852569</pose>
      <plugin name="iCub_yarp_gazebo_plugin_ACC" filename="libgazebo_yarp_inertial.so"/>
    </sensor>
  </gazebo>
  <sensor name="r_upper_leg_mtb_acc_11b2" type="accelerometer">
    <parent link="r_upper_leg"/>
    <origin rpy="-3.12940212057 -1.57038181496 -0.273989852569" xyz="0.0539467 -0.0064065 0.039056"/>
  </sensor>
  <gazebo reference="r_upper_leg">
    <sensor name="r_upper_leg_mtb_acc_11b3" type="imu">
      <always_on>1</always_on>
      <update_rate>100</update_rate>
      <pose>0.0538313 -0.0130214 0.003986 -2.87731085451 -1.5703518031 -0.264281823992</pose>
      <plugin name="iCub_yarp_gazebo_plugin_ACC" filename="libgazebo_yarp_inertial.so"/>
    </sensor>
  </gazebo>
  <sensor name="r_upper_leg_mtb_acc_11b3" type="accelerometer">
    <parent link="r_upper_leg"/>
    <origin rpy="-2.87731085451 -1.5703518031 -0.264281823992" xyz="0.0538313 -0.0130214 0.003986"/>
  </sensor>
  <gazebo reference="r_upper_leg">
    <sensor name="r_upper_leg_mtb_acc_11b4" type="imu">
      <always_on>1</always_on>
      <update_rate>100</update_rate>
      <pose>0.0322719 0.0422675 -0.005045 -1.87390998809 -1.57025771326 -0.0808589029571</pose>
      <plugin name="iCub_yarp_gazebo_plugin_ACC" filename="libgazebo_yarp_inertial.so"/>
    </sensor>
  </gazebo>
  <sensor name="r_upper_leg_mtb_acc_11b4" type="accelerometer">
    <parent link="r_upper_leg"/>
    <origin rpy="-1.87390998809 -1.57025771326 -0.0808589029571" xyz="0.0322719 0.0422675 -0.005045"/>
  </sensor>
  <gazebo reference="r_upper_leg">
    <sensor name="r_upper_leg_mtb_acc_11b5" type="imu">
      <always_on>1</always_on>
      <update_rate>100</update_rate>
      <pose>0.0538313 0.0164786 0.003986 -2.87731085451 -1.5703518031 -0.264281823992</pose>
      <plugin name="iCub_yarp_gazebo_plugin_ACC" filename="libgazebo_yarp_inertial.so"/>
    </sensor>
  </gazebo>
  <sensor name="r_upper_leg_mtb_acc_11b5" type="accelerometer">
    <parent link="r_upper_leg"/>
    <origin rpy="-2.87731085451 -1.5703518031 -0.264281823992" xyz="0.0538313 0.0164786 0.003986"/>
  </sensor>
  <gazebo reference="r_upper_leg">
    <sensor name="r_upper_leg_mtb_acc_11b6" type="imu">
      <always_on>1</always_on>
      <update_rate>100</update_rate>
      <pose>-0.0437518 -0.0157594 -0.026565 1.95410275534e-17 1.5703672368 -3.14159265359</pose>
      <plugin name="iCub_yarp_gazebo_plugin_ACC" filename="libgazebo_yarp_inertial.so"/>
    </sensor>
  </gazebo>
  <sensor name="r_upper_leg_mtb_acc_11b6" type="accelerometer">
    <parent link="r_upper_leg"/>
    <origin rpy="1.95410275534e-17 1.5703672368 -3.14159265359" xyz="-0.0437518 -0.0157594 -0.026565"/>
  </sensor>
  <gazebo reference="r_upper_leg">
    <sensor name="r_upper_leg_mtb_acc_11b7" type="imu">
      <always_on>1</always_on>
      <update_rate>100</update_rate>
      <pose>-0.0437518 0.0162386 -0.026566 0.264252523901 1.57035180662 -2.87734010478</pose>
      <plugin name="iCub_yarp_gazebo_plugin_ACC" filename="libgazebo_yarp_inertial.so"/>
    </sensor>
  </gazebo>
  <sensor name="r_upper_leg_mtb_acc_11b7" type="accelerometer">
    <parent link="r_upper_leg"/>
    <origin rpy="0.264252523901 1.57035180662 -2.87734010478" xyz="-0.0437518 0.0162386 -0.026566"/>
  </sensor>
  <gazebo reference="r_lower_leg">
    <sensor name="r_lower_leg_ems_acc_eb9" type="imu">
      <always_on>1</always_on>
      <update_rate>100</update_rate>
      <pose>0.04351373 0.0138396 -0.092765 -3.14159265359 -1.35262978345 -8.47684971046e-16</pose>
      <plugin name="iCub_yarp_gazebo_plugin_ACC" filename="libgazebo_yarp_inertial.so"/>
    </sensor>
  </gazebo>
  <sensor name="r_lower_leg_ems_acc_eb9" type="accelerometer">
    <parent link="r_lower_leg"/>
    <origin rpy="-3.14159265359 -1.35262978345 -8.47684971046e-16" xyz="0.04351373 0.0138396 -0.092765"/>
  </sensor>
  <gazebo reference="r_lower_leg">
    <sensor name="r_lower_leg_ems_gyro_eb9" type="imu">
      <always_on>1</always_on>
      <update_rate>100</update_rate>
      <pose>0.044503292 0.0143435 -0.088301 -3.14159265359 -1.35262978345 -8.47684971046e-16</pose>
    </sensor>
  </gazebo>
  <sensor name="r_lower_leg_ems_gyro_eb9" type="gyroscope">
    <parent link="r_lower_leg"/>
    <origin rpy="-3.14159265359 -1.35262978345 -8.47684971046e-16" xyz="0.044503292 0.0143435 -0.088301"/>
  </sensor>
  <gazebo reference="r_lower_leg">
    <sensor name="r_lower_leg_mtb_acc_11b8" type="imu">
      <always_on>1</always_on>
      <update_rate>100</update_rate>
      <pose>0.05362922 -0.0151958 -0.004318 -1.57079699431 -1.5706802101 -1.81514182543</pose>
      <plugin name="iCub_yarp_gazebo_plugin_ACC" filename="libgazebo_yarp_inertial.so"/>
    </sensor>
  </gazebo>
  <sensor name="r_lower_leg_mtb_acc_11b8" type="accelerometer">
    <parent link="r_lower_leg"/>
    <origin rpy="-1.57079699431 -1.5706802101 -1.81514182543" xyz="0.05362922 -0.0151958 -0.004318"/>
  </sensor>
  <gazebo reference="r_lower_leg">
    <sensor name="r_lower_leg_mtb_acc_11b9" type="imu">
      <always_on>1</always_on>
      <update_rate>100</update_rate>
      <pose>0.0537517 0.0157229 -0.004318 -1.57079629188 -1.57068021044 -1.2217307215</pose>
      <plugin name="iCub_yarp_gazebo_plugin_ACC" filename="libgazebo_yarp_inertial.so"/>
    </sensor>
  </gazebo>
  <sensor name="r_lower_leg_mtb_acc_11b9" type="accelerometer">
    <parent link="r_lower_leg"/>
    <origin rpy="-1.57079629188 -1.57068021044 -1.2217307215" xyz="0.0537517 0.0157229 -0.004318"/>
  </sensor>
  <gazebo reference="r_lower_leg">
    <sensor name="r_lower_leg_mtb_acc_11b10" type="imu">
      <always_on>1</always_on>
      <update_rate>100</update_rate>
      <pose>0.0278945 -0.042214 -0.043468 1.83259550627 -1.57079632679 0.0</pose>
      <plugin name="iCub_yarp_gazebo_plugin_ACC" filename="libgazebo_yarp_inertial.so"/>
    </sensor>
  </gazebo>
  <sensor name="r_lower_leg_mtb_acc_11b10" type="accelerometer">
    <parent link="r_lower_leg"/>
    <origin rpy="1.83259550627 -1.57079632679 0.0" xyz="0.0278945 -0.042214 -0.043468"/>
  </sensor>
  <gazebo reference="r_lower_leg">
    <sensor name="r_lower_leg_mtb_acc_11b11" type="imu">
      <always_on>1</always_on>
      <update_rate>100</update_rate>
      <pose>0.0164801 0.042249 -0.092958 -1.57079369547 -1.57068021035 -0.261801810497</pose>
      <plugin name="iCub_yarp_gazebo_plugin_ACC" filename="libgazebo_yarp_inertial.so"/>
    </sensor>
  </gazebo>
  <sensor name="r_lower_leg_mtb_acc_11b11" type="accelerometer">
    <parent link="r_lower_leg"/>
    <origin rpy="-1.57079369547 -1.57068021035 -0.261801810497" xyz="0.0164801 0.042249 -0.092958"/>
  </sensor>
  <gazebo reference="r_foot">
    <sensor name="r_foot_mtb_acc_11b12" type="imu">
      <always_on>1</always_on>
      <update_rate>100</update_rate>
      <pose>0.1034794 -0.0008122 -0.001215 1.46487522971e-16 2.22044521133e-16 -1.57079604303</pose>
      <plugin name="iCub_yarp_gazebo_plugin_ACC" filename="libgazebo_yarp_inertial.so"/>
    </sensor>
  </gazebo>
  <sensor name="r_foot_mtb_acc_11b12" type="accelerometer">
    <parent link="r_foot"/>
    <origin rpy="1.46487522971e-16 2.22044521133e-16 -1.57079604303" xyz="0.1034794 -0.0008122 -0.001215"/>
  </sensor>
  <gazebo reference="r_foot">
    <sensor name="r_foot_mtb_acc_11b13" type="imu">
      <always_on>1</always_on>
      <update_rate>100</update_rate>
      <pose>0.0784794 -0.0118122 -0.001215 2.22044604925e-16 2.22044604925e-16 -1.57079632679</pose>
      <plugin name="iCub_yarp_gazebo_plugin_ACC" filename="libgazebo_yarp_inertial.so"/>
    </sensor>
  </gazebo>
  <sensor name="r_foot_mtb_acc_11b13" type="accelerometer">
    <parent link="r_foot"/>
    <origin rpy="2.22044604925e-16 2.22044604925e-16 -1.57079632679" xyz="0.0784794 -0.0118122 -0.001215"/>
  </sensor>
  <gazebo reference="l_upper_leg">
    <sensor name="l_upper_leg_ems_acc_eb6" type="imu">
      <always_on>1</always_on>
      <update_rate>100</update_rate>
      <pose>-0.0125771 -0.0404072 -0.083407 1.57079632679 1.57079632679 0.0</pose>
      <plugin name="iCub_yarp_gazebo_plugin_ACC" filename="libgazebo_yarp_inertial.so"/>
    </sensor>
  </gazebo>
  <sensor name="l_upper_leg_ems_acc_eb6" type="accelerometer">
    <parent link="l_upper_leg"/>
    <origin rpy="1.57079632679 1.57079632679 0.0" xyz="-0.0125771 -0.0404072 -0.083407"/>
  </sensor>
  <gazebo reference="l_upper_leg">
    <sensor name="l_upper_leg_ems_acc_eb10" type="imu">
      <always_on>1</always_on>
      <update_rate>100</update_rate>
      <pose>-0.0125751 0.040407 -0.040227 -1.57079632679 -1.57079632679 0.0</pose>
      <plugin name="iCub_yarp_gazebo_plugin_ACC" filename="libgazebo_yarp_inertial.so"/>
    </sensor>
  </gazebo>
  <sensor name="l_upper_leg_ems_acc_eb10" type="accelerometer">
    <parent link="l_upper_leg"/>
    <origin rpy="-1.57079632679 -1.57079632679 0.0" xyz="-0.0125751 0.040407 -0.040227"/>
  </sensor>
  <gazebo reference="l_upper_leg">
    <sensor name="l_upper_leg_ems_gyro_eb6" type="imu">
      <always_on>1</always_on>
      <update_rate>100</update_rate>
      <pose>-0.013081 -0.0404072 -0.087979 1.57079632679 1.57079632679 0.0</pose>
    </sensor>
  </gazebo>
  <sensor name="l_upper_leg_ems_gyro_eb6" type="gyroscope">
    <parent link="l_upper_leg"/>
    <origin rpy="1.57079632679 1.57079632679 0.0" xyz="-0.013081 -0.0404072 -0.087979"/>
  </sensor>
  <gazebo reference="l_upper_leg">
    <sensor name="l_upper_leg_ems_gyro_eb10" type="imu">
      <always_on>1</always_on>
      <update_rate>100</update_rate>
      <pose>-0.013079 0.040407 -0.035655 -1.57079632679 -1.57079632679 0.0</pose>
    </sensor>
  </gazebo>
  <sensor name="l_upper_leg_ems_gyro_eb10" type="gyroscope">
    <parent link="l_upper_leg"/>
    <origin rpy="-1.57079632679 -1.57079632679 0.0" xyz="-0.013079 0.040407 -0.035655"/>
  </sensor>
  <gazebo reference="l_upper_leg">
    <sensor name="l_upper_leg_mtb_acc_10b1" type="imu">
      <always_on>1</always_on>
      <update_rate>100</update_rate>
      <pose>0.04200163 0.031565 0.049132 -1.57079551857 -1.57068021034 -0.733039094713</pose>
      <plugin name="iCub_yarp_gazebo_plugin_ACC" filename="libgazebo_yarp_inertial.so"/>
    </sensor>
  </gazebo>
  <sensor name="l_upper_leg_mtb_acc_10b1" type="accelerometer">
    <parent link="l_upper_leg"/>
    <origin rpy="-1.57079551857 -1.57068021034 -0.733039094713" xyz="0.04200163 0.031565 0.049132"/>
  </sensor>
  <gazebo reference="l_upper_leg">
    <sensor name="l_upper_leg_mtb_acc_10b2" type="imu">
      <always_on>1</always_on>
      <update_rate>100</update_rate>
      <pose>0.05352109 0.0077657 0.039252 -1.57079638638 -1.57068021039 -1.3089969474</pose>
      <plugin name="iCub_yarp_gazebo_plugin_ACC" filename="libgazebo_yarp_inertial.so"/>
    </sensor>
  </gazebo>
  <sensor name="l_upper_leg_mtb_acc_10b2" type="accelerometer">
    <parent link="l_upper_leg"/>
    <origin rpy="-1.57079638638 -1.57068021039 -1.3089969474" xyz="0.05352109 0.0077657 0.039252"/>
  </sensor>
  <gazebo reference="l_upper_leg">
    <sensor name="l_upper_leg_mtb_acc_10b3" type="imu">
      <always_on>1</always_on>
      <update_rate>100</update_rate>
      <pose>0.053785 0.0150706 0.004182 3.14159265359 -1.57079632679 0.0</pose>
      <plugin name="iCub_yarp_gazebo_plugin_ACC" filename="libgazebo_yarp_inertial.so"/>
    </sensor>
  </gazebo>
  <sensor name="l_upper_leg_mtb_acc_10b3" type="accelerometer">
    <parent link="l_upper_leg"/>
    <origin rpy="3.14159265359 -1.57079632679 0.0" xyz="0.053785 0.0150706 0.004182"/>
  </sensor>
  <gazebo reference="l_upper_leg">
    <sensor name="l_upper_leg_mtb_acc_10b4" type="imu">
      <always_on>1</always_on>
      <update_rate>100</update_rate>
      <pose>0.053785 -0.0144294 0.004182 3.14159265359 -1.57079632679 0.0</pose>
      <plugin name="iCub_yarp_gazebo_plugin_ACC" filename="libgazebo_yarp_inertial.so"/>
    </sensor>
  </gazebo>
  <sensor name="l_upper_leg_mtb_acc_10b4" type="accelerometer">
    <parent link="l_upper_leg"/>
    <origin rpy="3.14159265359 -1.57079632679 0.0" xyz="0.053785 -0.0144294 0.004182"/>
  </sensor>
  <gazebo reference="l_upper_leg">
    <sensor name="l_upper_leg_mtb_acc_10b5" type="imu">
      <always_on>1</always_on>
      <update_rate>100</update_rate>
      <pose>0.03412949 -0.0414999 -0.004858 1.95476889104 -1.57079632679 0.0</pose>
      <plugin name="iCub_yarp_gazebo_plugin_ACC" filename="libgazebo_yarp_inertial.so"/>
    </sensor>
  </gazebo>
  <sensor name="l_upper_leg_mtb_acc_10b5" type="accelerometer">
    <parent link="l_upper_leg"/>
    <origin rpy="1.95476889104 -1.57079632679 0.0" xyz="0.03412949 -0.0414999 -0.004858"/>
  </sensor>
  <gazebo reference="l_upper_leg">
    <sensor name="l_upper_leg_mtb_acc_10b6" type="imu">
      <always_on>1</always_on>
      <update_rate>100</update_rate>
      <pose>-0.043785 0.0178111 -0.026411 -1.57079632679 1.57077431394 1.57079632679</pose>
      <plugin name="iCub_yarp_gazebo_plugin_ACC" filename="libgazebo_yarp_inertial.so"/>
    </sensor>
  </gazebo>
  <sensor name="l_upper_leg_mtb_acc_10b6" type="accelerometer">
    <parent link="l_upper_leg"/>
    <origin rpy="-1.57079632679 1.57077431394 1.57079632679" xyz="-0.043785 0.0178111 -0.026411"/>
  </sensor>
  <gazebo reference="l_upper_leg">
    <sensor name="l_upper_leg_mtb_acc_10b7" type="imu">
      <always_on>1</always_on>
      <update_rate>100</update_rate>
      <pose>-0.043785 -0.0141918 -0.026411 1.5707963268 1.57064733889 -1.57079632679</pose>
      <plugin name="iCub_yarp_gazebo_plugin_ACC" filename="libgazebo_yarp_inertial.so"/>
    </sensor>
  </gazebo>
  <sensor name="l_upper_leg_mtb_acc_10b7" type="accelerometer">
    <parent link="l_upper_leg"/>
    <origin rpy="1.5707963268 1.57064733889 -1.57079632679" xyz="-0.043785 -0.0141918 -0.026411"/>
  </sensor>
  <gazebo reference="l_lower_leg">
    <sensor name="l_lower_leg_ems_acc_eb7" type="imu">
      <always_on>1</always_on>
      <update_rate>100</update_rate>
      <pose>0.04351373 0.0113146 -0.092765 -3.14159265359 -1.35262978345 -8.47684971046e-16</pose>
      <plugin name="iCub_yarp_gazebo_plugin_ACC" filename="libgazebo_yarp_inertial.so"/>
    </sensor>
  </gazebo>
  <sensor name="l_lower_leg_ems_acc_eb7" type="accelerometer">
    <parent link="l_lower_leg"/>
    <origin rpy="-3.14159265359 -1.35262978345 -8.47684971046e-16" xyz="0.04351373 0.0113146 -0.092765"/>
  </sensor>
  <gazebo reference="l_lower_leg">
    <sensor name="l_lower_leg_ems_gyro_eb7" type="imu">
      <always_on>1</always_on>
      <update_rate>100</update_rate>
      <pose>0.044503292 0.0118185 -0.088301 -3.14159265359 -1.35262978345 -8.47684971046e-16</pose>
    </sensor>
  </gazebo>
  <sensor name="l_lower_leg_ems_gyro_eb7" type="gyroscope">
    <parent link="l_lower_leg"/>
    <origin rpy="-3.14159265359 -1.35262978345 -8.47684971046e-16" xyz="0.044503292 0.0118185 -0.088301"/>
  </sensor>
  <gazebo reference="l_lower_leg">
    <sensor name="l_lower_leg_mtb_acc_10b8" type="imu">
      <always_on>1</always_on>
      <update_rate>100</update_rate>
      <pose>0.05313347 0.0171841 -0.004318 -2.89724648752 -1.57079632679 0.0</pose>
      <plugin name="iCub_yarp_gazebo_plugin_ACC" filename="libgazebo_yarp_inertial.so"/>
    </sensor>
  </gazebo>
  <sensor name="l_lower_leg_mtb_acc_10b8" type="accelerometer">
    <parent link="l_lower_leg"/>
    <origin rpy="-2.89724648752 -1.57079632679 0.0" xyz="0.05313347 0.0171841 -0.004318"/>
  </sensor>
  <gazebo reference="l_lower_leg">
    <sensor name="l_lower_leg_mtb_acc_10b9" type="imu">
      <always_on>1</always_on>
      <update_rate>100</update_rate>
      <pose>0.0544518 -0.0137991 -0.004318 -1.57079636645 -1.57068021044 -1.91986192735</pose>
      <plugin name="iCub_yarp_gazebo_plugin_ACC" filename="libgazebo_yarp_inertial.so"/>
    </sensor>
  </gazebo>
  <sensor name="l_lower_leg_mtb_acc_10b9" type="accelerometer">
    <parent link="l_lower_leg"/>
    <origin rpy="-1.57079636645 -1.57068021044 -1.91986192735" xyz="0.0544518 -0.0137991 -0.004318"/>
  </sensor>
  <gazebo reference="l_lower_leg">
    <sensor name="l_lower_leg_mtb_acc_10b10" type="imu">
      <always_on>1</always_on>
      <update_rate>100</update_rate>
      <pose>0.0259151 0.042744 -0.043468 -1.57079369547 -1.57068021035 -0.261801810497</pose>
      <plugin name="iCub_yarp_gazebo_plugin_ACC" filename="libgazebo_yarp_inertial.so"/>
    </sensor>
  </gazebo>
  <sensor name="l_lower_leg_mtb_acc_10b10" type="accelerometer">
    <parent link="l_lower_leg"/>
    <origin rpy="-1.57079369547 -1.57068021035 -0.261801810497" xyz="0.0259151 0.042744 -0.043468"/>
  </sensor>
  <gazebo reference="l_lower_leg">
    <sensor name="l_lower_leg_mtb_acc_10b11" type="imu">
      <always_on>1</always_on>
      <update_rate>100</update_rate>
      <pose>0.0184593 -0.0417187 -0.092958 1.57079531928 -1.57076999786 0.261800187025</pose>
      <plugin name="iCub_yarp_gazebo_plugin_ACC" filename="libgazebo_yarp_inertial.so"/>
    </sensor>
  </gazebo>
  <sensor name="l_lower_leg_mtb_acc_10b11" type="accelerometer">
    <parent link="l_lower_leg"/>
    <origin rpy="1.57079531928 -1.57076999786 0.261800187025" xyz="0.0184593 -0.0417187 -0.092958"/>
  </sensor>
  <gazebo reference="l_foot">
    <sensor name="l_foot_mtb_acc_10b12" type="imu">
      <always_on>1</always_on>
      <update_rate>100</update_rate>
      <pose>0.1055274 0.0008122 -0.001215 0.0 -0.0 1.57079632679</pose>
      <plugin name="iCub_yarp_gazebo_plugin_ACC" filename="libgazebo_yarp_inertial.so"/>
    </sensor>
  </gazebo>
  <sensor name="l_foot_mtb_acc_10b12" type="accelerometer">
    <parent link="l_foot"/>
    <origin rpy="0.0 -0.0 1.57079632679" xyz="0.1055274 0.0008122 -0.001215"/>
  </sensor>
  <gazebo reference="l_foot">
    <sensor name="l_foot_mtb_acc_10b13" type="imu">
      <always_on>1</always_on>
      <update_rate>100</update_rate>
      <pose>0.0805274 0.0118122 -0.001215 0.0 -0.0 1.57079632679</pose>
      <plugin name="iCub_yarp_gazebo_plugin_ACC" filename="libgazebo_yarp_inertial.so"/>
    </sensor>
  </gazebo>
  <sensor name="l_foot_mtb_acc_10b13" type="accelerometer">
    <parent link="l_foot"/>
    <origin rpy="0.0 -0.0 1.57079632679" xyz="0.0805274 0.0118122 -0.001215"/>
  </sensor>
  <gazebo>
    <pose>0.0 0.0 0.63 0.0 0.0 3.14</pose>
  </gazebo>
  <!-- ********************************************** -->
  <!-- Sensor  1-->
  <sensor name="Pelvis_gyro" type="gyroscope">
  <parent link="root_link"/>
  <origin xyz="-0.055881  0.00020678    0.095148" rpy="0.094617      1.0086     -3.0304"/>
  </sensor>
  <sensor name="Pelvis_accelerometer" type="accelerometer">
  <parent link="root_link"/>
  <origin xyz="-0.055881  0.00020678    0.095148" rpy="0.094617      1.0086     -3.0304"/>
  </sensor>
  <!-- Sensor  2-->
  <sensor name="T8_gyro" type="gyroscope">
  <parent link="chest"/>
  <origin xyz="0.14068  6.2838e-06    0.077433" rpy="-0.077161      1.1064    -0.17687"/>
  </sensor>
  <sensor name="T8_accelerometer" type="accelerometer">
  <parent link="chest"/>
  <origin xyz="0.14068  6.2838e-06    0.077433" rpy="-0.077161      1.1064    -0.17687"/>
  </sensor>
  <!-- Sensor  3-->
  <sensor name="Head_gyro" type="gyroscope">
  <parent link="head"/>
  <origin xyz="-0.06975 -2.1628e-05    0.076683" rpy="2.3836  -0.0032688     -1.7942"/>
  </sensor>
  <sensor name="Head_accelerometer" type="accelerometer">
  <parent link="head"/>
  <origin xyz="-0.06975 -2.1628e-05    0.076683" rpy="2.3836  -0.0032688     -1.7942"/>
  </sensor>
  <!-- Sensor  4-->
  <!-- <sensor name="RightShoulder_gyro" type="gyroscope">
  <parent link="chest"/>
  <origin xyz="-0.020002   -0.049977   -0.059953" rpy="1.0711    -0.16714    -0.95844"/>
  </sensor>
  <sensor name="RightShoulder_accelerometer" type="accelerometer">
  <parent link="chest"/>
  <origin xyz="-0.020002   -0.049977   -0.059953" rpy="1.0711    -0.16714    -0.95844"/>
  </sensor> -->
  <!-- Sensor  5-->
  <sensor name="RightUpperArm_gyro" type="gyroscope">
  <parent link="r_upper_arm"/>
  <origin xyz="-0.020047   -0.099952    0.019983" rpy="-0.10514    0.025819     -1.5224"/>
  </sensor>
  <sensor name="RightUpperArm_accelerometer" type="accelerometer">
  <parent link="r_upper_arm"/>
  <origin xyz="-0.020047   -0.099952    0.019983" rpy="-0.10514    0.025819     -1.5224"/>
  </sensor>
  <!-- Sensor  6-->
  <sensor name="RightForeArm_gyro" type="gyroscope">
  <parent link="r_forearm"/>
  <origin xyz="0.0018328    -0.20024    0.019978" rpy="-0.41688   -0.021387     -1.2563"/>
  </sensor>
  <sensor name="RightForeArm_accelerometer" type="accelerometer">
  <parent link="r_forearm"/>
  <origin xyz="0.0018328    -0.20024    0.019978" rpy="-0.41688   -0.021387     -1.2563"/>
  </sensor>
  <!-- Sensor  7-->
  <sensor name="RightHand_gyro" type="gyroscope">
  <parent link="r_hand"/>
  <origin xyz="-7.5053e-06   -0.054958    0.020014" rpy="-0.37028    0.088894     -1.5331"/>
  </sensor>
  <sensor name="RightHand_accelerometer" type="accelerometer">
  <parent link="r_hand"/>
  <origin xyz="-7.5053e-06   -0.054958    0.020014" rpy="-0.37028    0.088894     -1.5331"/>
  </sensor>
  <!-- Sensor  8-->
  <!-- <sensor name="LeftShoulder_gyro" type="gyroscope">
  <parent link="chest"/>
  <origin xyz="-0.019992    0.049973    -0.05994" rpy="-1.0318    -0.19235      1.1962"/>
  </sensor>
  <sensor name="LeftShoulder_accelerometer" type="accelerometer">
  <parent link="chest"/>
  <origin xyz="-0.019992    0.049973    -0.05994" rpy="-1.0318    -0.19235      1.1962"/>
  </sensor> -->
  <!-- Sensor  9-->
  <sensor name="LeftUpperArm_gyro" type="gyroscope">
  <parent link="l_upper_arm"/>
  <origin xyz="-0.020025    0.099939    0.019989" rpy="0.064789   -0.084026      1.4526"/>
  </sensor>
  <sensor name="LeftUpperArm_accelerometer" type="accelerometer">
  <parent link="l_upper_arm"/>
  <origin xyz="-0.020025    0.099939    0.019989" rpy="0.064789   -0.084026      1.4526"/>
  </sensor>
  <!-- Sensor  10-->
  <sensor name="LeftForeArm_gyro" type="gyroscope">
  <parent link="l_forearm"/>
  <origin xyz="0.0017837     0.20024    0.020006" rpy="0.72472      0.1279      1.0326"/>
  </sensor>
  <sensor name="LeftForeArm_accelerometer" type="accelerometer">
  <parent link="l_forearm"/>
  <origin xyz="0.0017837     0.20024    0.020006" rpy="0.72472      0.1279      1.0326"/>
  </sensor>
  <!-- Sensor  11-->
  <sensor name="LeftHand_gyro" type="gyroscope">
  <parent link="l_hand"/>
  <origin xyz="-3.1578e-05    0.054994    0.019979" rpy="-0.88757   0.0059868      1.7618"/>
  </sensor>
  <sensor name="LeftHand_accelerometer" type="accelerometer">
  <parent link="l_hand"/>
  <origin xyz="-3.1578e-05    0.054994    0.019979" rpy="-0.88757   0.0059868      1.7618"/>
  </sensor>
  <!-- Sensor  12-->
  <sensor name="RightUpperLeg_gyro" type="gyroscope">
  <parent link="r_upper_leg"/>
  <origin xyz="0.013338   -0.044248    -0.25239" rpy="-3.0702      1.3416      1.8771"/>
  </sensor>
  <sensor name="RightUpperLeg_accelerometer" type="accelerometer">
  <parent link="r_upper_leg"/>
  <origin xyz="0.013338   -0.044248    -0.25239" rpy="-3.0702      1.3416      1.8771"/>
  </sensor>
  <!-- Sensor  13-->
  <sensor name="RightLowerLeg_gyro" type="gyroscope">
  <parent link="r_lower_leg"/>
  <origin xyz="0.031063   0.0066293    -0.13321" rpy="-3.0874      1.4644     -2.7215"/>
  </sensor>
  <sensor name="RightLowerLeg_accelerometer" type="accelerometer">
  <parent link="r_lower_leg"/>
  <origin xyz="0.031063   0.0066293    -0.13321" rpy="-3.0874      1.4644     -2.7215"/>
  </sensor>
  <!-- Sensor  14-->
  <sensor name="RightFoot_gyro" type="gyroscope">
  <parent link="r_foot"/>
  <origin xyz="0.089471   0.0011861   -0.012554" rpy="-0.07906     0.83912    -0.38361"/>
  </sensor>
  <sensor name="RightFoot_accelerometer" type="accelerometer">
  <parent link="r_foot"/>
  <origin xyz="0.089471   0.0011861   -0.012554" rpy="-0.07906     0.83912    -0.38361"/>
  </sensor>
  <!-- Sensor  15-->
  <sensor name="LeftUpperLeg_gyro" type="gyroscope">
  <parent link="l_upper_leg"/>
  <origin xyz="0.01207    0.043037    -0.25269" rpy="-3.11      1.3262    -0.93453"/>
  </sensor>
  <sensor name="LeftUpperLeg_accelerometer" type="accelerometer">
  <parent link="l_upper_leg"/>
  <origin xyz="0.01207    0.043037    -0.25269" rpy="-3.11      1.3262    -0.93453"/>
  </sensor>
  <!-- Sensor  16-->
  <sensor name="LeftLowerLeg_gyro" type="gyroscope">
  <parent link="l_lower_leg"/>
  <origin xyz="0.030962  -0.0070902    -0.13319" rpy="-2.05      1.5347     -2.3088"/>
  </sensor>
  <sensor name="LeftLowerLeg_accelerometer" type="accelerometer">
  <parent link="l_lower_leg"/>
  <origin xyz="0.030962  -0.0070902    -0.13319" rpy="-2.05      1.5347     -2.3088"/>
  </sensor>
  <!-- Sensor  17-->
  <sensor name="LeftFoot_gyro" type="gyroscope">
  <parent link="l_foot"/>
  <origin xyz="0.089484  -0.0013526   -0.012584" rpy="-0.35797     0.75899     0.20577"/>
  </sensor>
  <sensor name="LeftFoot_accelerometer" type="accelerometer">
  <parent link="l_foot"/>
  <origin xyz="0.089484  -0.0013526   -0.012584" rpy="-0.35797     0.75899     0.20577"/>
  </sensor>

<!-- ************************  Fictatious Frames  ********************** -->
<link name="root_link_fake"/>
<joint name="j_root_link_fake" type="fixed">
<origin xyz="0 0 0" rpy="0 0 3.14159265"/>
<axis xyz="1 0 0"/>
<parent link="root_link"/>
<child link="root_link_fake"/>
</joint>


<link name="chest_fake">
   <inertial>
     <origin xyz="0.00000 0.00000 0.00000" rpy="0 0 0"/>
     <mass value="0.00001"/>
     <inertia ixx="0.00001" ixy="0.00001" ixz="0.00000" iyy="0.00001" iyz="0.00001" izz="0.00001"/>
   </inertial>
   <visual>
     <origin xyz="0.00001 0.00001 0.00001" rpy="0 0 0"/>
     <geometry>
       <box size="0.2 0.1 0.05" />
     </geometry>
     <material name="blue">
       <color rgba="0 0 1 1"/>
     </material>
   </visual>
 </link>
 <joint name="j_chest_fake" type="revolute">
 <origin xyz="0.01 0.01 0.01" rpy="1.57079632679 0 1.57079632679"/>
 <parent link="chest"/>
 <child link="chest_fake"/>
 <dynamics damping="0.1" friction="0.0"/>
 <limit effort="30" velocity="1.0" lower="-3.141592" upper="3.141592" />
 <axis xyz="1 0 0" />
</joint>


</robot>
